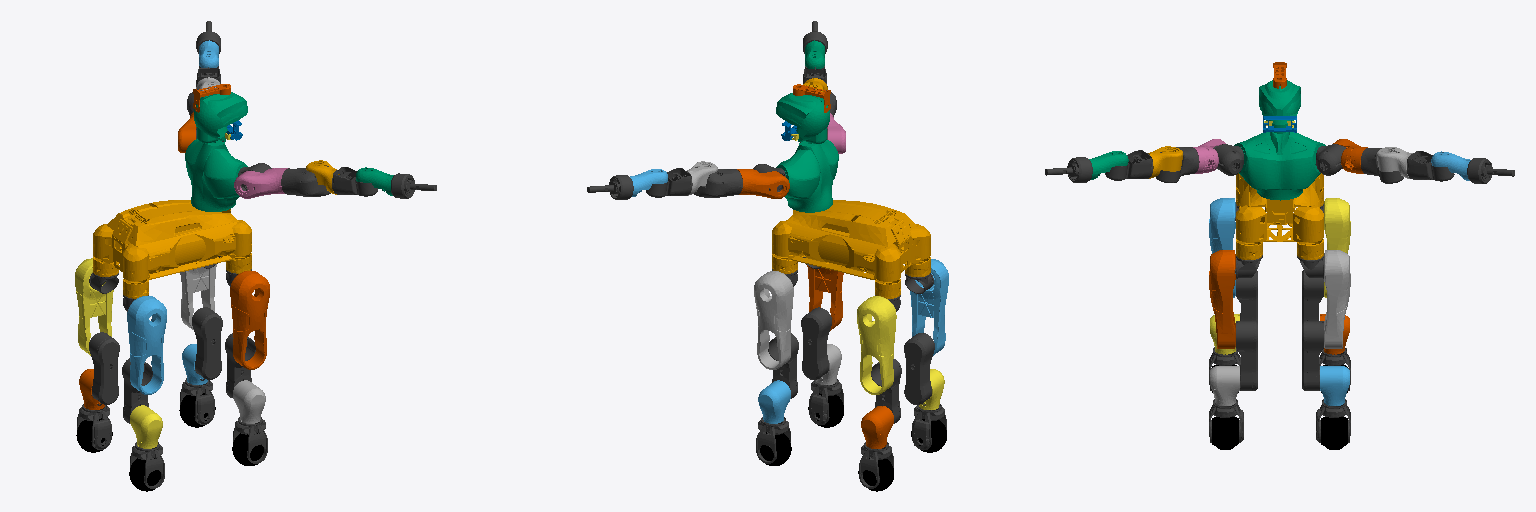
--- What the picture shows (computed from the rendered views, not written in the file) ---
The picture shows the robot from 3 angles, left to right: view 1: azimuth 30°, elevation 25°; view 2: azimuth 150°, elevation 25°; view 3: azimuth 270°, elevation 25°; orthographic projection.
Robot: centauro — 54 links, 53 joints (39 revolute, 5 continuous, 9 fixed); root link pelvis; default pose: all joints at 0 but 2 set to mid-range because 0 is outside their limits (j_arm1_2 = -1.74, j_arm2_2 = 1.74).
Links seen in each view (by area): view 1: pelvis, torso_2, hip2_2, hip2_4, hip2_3, knee_1, knee_3, hip2_1, arm2_2, ankle1_2, ankle1_4, arm2_3 (+13 smaller); view 2: pelvis, torso_2, hip2_1, hip2_3, hip2_4, knee_2, knee_4, hip2_2, arm1_2, ankle1_3, ankle1_1, arm1_3 (+13 smaller); view 3: torso_2, pelvis, hip2_1, hip2_2, knee_2, knee_1, hip2_4, hip2_3, ankle1_2, ankle1_1, arm1_5, arm2_5 (+16 smaller).
Boxes of the visible links, x1,y1,x2,y2 form: pelvis: [93, 200, 251, 298]; torso_2: [185, 92, 247, 211]; hip2_2: [230, 271, 269, 369]; hip2_4: [127, 296, 166, 394]; hip2_3: [75, 258, 113, 355]; knee_1: [192, 307, 222, 379]; knee_3: [89, 332, 119, 404]; hip2_1: [180, 264, 216, 329]; arm2_2: [234, 168, 287, 198]; ankle1_2: [233, 380, 265, 423]; ankle1_4: [130, 405, 162, 448]; arm2_3: [281, 166, 330, 196]; pelvis: [772, 200, 930, 298]; torso_2: [776, 93, 838, 212]; hip2_1: [754, 271, 793, 369]; hip2_3: [857, 296, 896, 394]; hip2_4: [910, 259, 948, 355]; knee_2: [801, 307, 831, 379]; knee_4: [904, 333, 934, 404]; hip2_2: [807, 265, 843, 330]; arm1_2: [737, 169, 789, 198]; ankle1_3: [861, 406, 893, 448]; ankle1_1: [758, 380, 790, 423]; arm1_3: [694, 167, 742, 197]; torso_2: [1234, 80, 1325, 200]; pelvis: [1236, 173, 1323, 259]; hip2_1: [1324, 250, 1350, 348]; hip2_2: [1209, 250, 1235, 348]; knee_2: [1236, 321, 1257, 390]; knee_1: [1302, 321, 1323, 390]; hip2_4: [1209, 198, 1235, 297]; hip2_3: [1324, 198, 1350, 297]; ankle1_2: [1210, 366, 1239, 405]; ankle1_1: [1320, 366, 1349, 405]; arm1_5: [1407, 151, 1454, 181]; arm2_5: [1105, 150, 1152, 180].
Size in the robot's own frame: 1.07 by 1.92 by 1.68 metres.
Meshes: 19 distinct files referenced, 45 mesh visuals loaded (19 binary STL).

The robot description file, URDF, robot "centauro":
<?xml version="1.0" ?>
<!-- =================================================================================== -->
<!-- |    This document was autogenerated by xacro from centauro.urdf.xacro            | -->
<!-- |    EDITING THIS FILE BY HAND IS NOT RECOMMENDED                                 | -->
<!-- =================================================================================== -->
<robot name="centauro" xmlns:xacro="http://www.ros.org/wiki/xacro">
  <!-- /constants -->
  <!-- Here all arguments from launch file are evaluated to the final xacro poropeties.
     Also all the parameter dependencies are resolved-->
  <!-- Here all arguments from launch file are evaluated to the final xacro poropeties.
     Also all the parameter dependencies are resolved-->
  <!-- Here all arguments from launch file are evaluated to the final xacro poropeties.
     Also all the parameter dependencies are resolved-->
  <!-- Here all arguments from launch file are evaluated to the final xacro poropeties.
     Also all the parameter dependencies are resolved-->
  <gazebo reference="j_ft_1">
    <sensor name="left_arm_ft" type="force_torque">
      <force_torque>
        <frame>parent</frame>
        <measure_direction>child_to_parent</measure_direction>
      </force_torque>
      <always_on>true</always_on>
      <visualize>true</visualize>
      <update_rate>1000</update_rate>
      <pose>0 0 0 0 0 0</pose>
    </sensor>
  </gazebo>
  <gazebo reference="j_ft_2">
    <sensor name="right_arm_ft" type="force_torque">
      <force_torque>
        <frame>parent</frame>
        <measure_direction>child_to_parent</measure_direction>
      </force_torque>
      <always_on>true</always_on>
      <visualize>true</visualize>
      <update_rate>1000</update_rate>
      <pose>0 0 0 0 0 0</pose>
    </sensor>
  </gazebo>
  <gazebo reference="j_wheel_1">
    <sensor name="fl_foot_ft" type="force_torque">
      <force_torque>
        <frame>parent</frame>
        <measure_direction>child_to_parent</measure_direction>
      </force_torque>
      <always_on>true</always_on>
      <visualize>true</visualize>
      <update_rate>1000</update_rate>
      <pose>0 0 0 0 0 0</pose>
    </sensor>
  </gazebo>
  <gazebo reference="j_wheel_2">
    <sensor name="fr_foot_ft" type="force_torque">
      <force_torque>
        <frame>parent</frame>
        <measure_direction>child_to_parent</measure_direction>
      </force_torque>
      <always_on>true</always_on>
      <visualize>true</visualize>
      <update_rate>1000</update_rate>
      <pose>0 0 0 0 0 0</pose>
    </sensor>
  </gazebo>
  <gazebo reference="j_wheel_4">
    <sensor name="hr_foot_ft" type="force_torque">
      <force_torque>
        <frame>parent</frame>
        <measure_direction>child_to_parent</measure_direction>
      </force_torque>
      <always_on>true</always_on>
      <visualize>true</visualize>
      <update_rate>1000</update_rate>
      <pose>0 0 0 0 0 0</pose>
    </sensor>
  </gazebo>
  <gazebo reference="j_wheel_3">
    <sensor name="hl_foot_ft" type="force_torque">
      <force_torque>
        <frame>parent</frame>
        <measure_direction>child_to_parent</measure_direction>
      </force_torque>
      <always_on>true</always_on>
      <visualize>true</visualize>
      <update_rate>1000</update_rate>
      <pose>0 0 0 0 0 0</pose>
    </sensor>
  </gazebo>
  <gazebo reference="wheel_1">
    <sensor name="wheel_1_contact_sensor_1" type="contact">
      <always_on>true</always_on>
      <update_rate>1000.0</update_rate>
      <contact>
        <collision>wheel_1_collision_1</collision>
      </contact>
      <plugin filename="libgazebo_ros_bumper.so" name="wheel_1_bumper">
        <bumperTopicName>centauro/contacts_wheel_1</bumperTopicName>
        <frameName>wheel_1</frameName>
      </plugin>
    </sensor>
  </gazebo>
  <gazebo reference="wheel_2">
    <sensor name="wheel_2_contact_sensor_1" type="contact">
      <always_on>true</always_on>
      <update_rate>1000.0</update_rate>
      <contact>
        <collision>wheel_2_collision_1</collision>
      </contact>
      <plugin filename="libgazebo_ros_bumper.so" name="wheel_2_bumper">
        <bumperTopicName>centauro/contacts_wheel_2</bumperTopicName>
        <frameName>wheel_2</frameName>
      </plugin>
    </sensor>
  </gazebo>
  <gazebo reference="wheel_3">
    <sensor name="wheel_3_contact_sensor_1" type="contact">
      <always_on>true</always_on>
      <update_rate>1000.0</update_rate>
      <contact>
        <collision>wheel_3_collision_1</collision>
      </contact>
      <plugin filename="libgazebo_ros_bumper.so" name="wheel_3_bumper">
        <bumperTopicName>centauro/contacts_wheel_3</bumperTopicName>
        <frameName>wheel_3</frameName>
      </plugin>
    </sensor>
  </gazebo>
  <gazebo reference="wheel_4">
    <sensor name="wheel_4_contact_sensor_1" type="contact">
      <always_on>true</always_on>
      <update_rate>1000.0</update_rate>
      <contact>
        <collision>wheel_4_collision_1</collision>
      </contact>
      <plugin filename="libgazebo_ros_bumper.so" name="wheel_4_bumper">
        <bumperTopicName>centauro/contacts_wheel_4</bumperTopicName>
        <frameName>wheel_4</frameName>
      </plugin>
    </sensor>
  </gazebo>
  <!-- Here all arguments from launch file are evaluated to the final xacro poropeties.
     Also all the parameter dependencies are resolved-->
  <gazebo reference="imu_link">
    <sensor name="imu_link" type="imu">
      <always_on>1</always_on>
      <update_rate>500</update_rate>
      <visualize>true</visualize>
      <topic>__default_topic__</topic>
      <imu>
        <!--
                <noise>
                <type>gaussian</type>
                <rate>
                    <mean>0.0</mean>
                    <stddev>2e-4</stddev>
                    <bias_mean>0.0000075</bias_mean>
                    <bias_stddev>0.0000008</bias_stddev>
                </rate>
                <accel>
                    <mean>0.0</mean>
                    <stddev>1.7e-2</stddev>
                    <bias_mean>0.1</bias_mean>
                    <bias_stddev>0.001</bias_stddev>
                </accel>
                </noise>
                -->
      </imu>
    </sensor>
  </gazebo>
  <gazebo>
    <plugin filename="libGazeboXBotPlugin.so" name="gazebo_xbot_plugin">
      <path_to_config_file>configs/ADVR_shared/centauro/configs/config_centauro.yaml</path_to_config_file>
      <!--                <path_to_config_file>configs/ADVR_shared/centauro/configs/config_centauro.yaml</path_to_config_file> -->
    </plugin>
  </gazebo>
  <!-- /CONTROLLER -->
  <!-- VISUALiZATION AND FRICTION -->
  <gazebo reference="base_link">
    <material>Gazebo/Red</material>
  </gazebo>
  <gazebo reference="pelvis">
    <material>Gazebo/OrangeTransparent</material>
    <mu1>0</mu1>
    <mu2>0</mu2>
  </gazebo>
  <gazebo reference="torso_2">
    <material>Gazebo/OrangeTransparent</material>
    <mu1>0</mu1>
    <mu2>0</mu2>
  </gazebo>
  <gazebo reference="hip1_1">
    <material>Gazebo/Lane_1</material>
    <mu1>0</mu1>
    <mu2>0</mu2>
  </gazebo>
  <gazebo reference="hip1_2">
    <material>Gazebo/Lane_1 </material>
    <mu1>0</mu1>
    <mu2>0</mu2>
  </gazebo>
  <gazebo reference="hip1_3">
    <material>Gazebo/Lane_1</material>
    <mu1>0</mu1>
    <mu2>0</mu2>
  </gazebo>
  <gazebo reference="hip1_4">
    <material>Gazebo/Lane_1</material>
    <mu1>0</mu1>
    <mu2>0</mu2>
  </gazebo>
  <gazebo reference="hip2_1">
    <material>Gazebo/OrangeTransparent </material>
    <mu1>0</mu1>
    <mu2>0</mu2>
  </gazebo>
  <gazebo reference="hip2_2">
    <material>Gazebo/OrangeTransparent</material>
    <mu1>0</mu1>
    <mu2>0</mu2>
  </gazebo>
  <gazebo reference="hip2_3">
    <material>Gazebo/OrangeTransparent </material>
    <mu1>0</mu1>
    <mu2>0</mu2>
  </gazebo>
  <gazebo reference="hip2_4">
    <material>Gazebo/OrangeTransparent </material>
    <mu1>0</mu1>
    <mu2>0</mu2>
  </gazebo>
  <gazebo reference="knee_1">
    <material>Gazebo/Lane_1 </material>
    <mu1>0</mu1>
    <mu2>0</mu2>
  </gazebo>
  <gazebo reference="knee_2">
    <material>Gazebo/Lane_1 </material>
    <mu1>0</mu1>
    <mu2>0</mu2>
  </gazebo>
  <gazebo reference="knee_3">
    <material>Gazebo/Lane_1 </material>
    <mu1>0</mu1>
    <mu2>0</mu2>
  </gazebo>
  <gazebo reference="knee_4">
    <material>Gazebo/Lane_1 </material>
    <mu1>0</mu1>
    <mu2>0</mu2>
  </gazebo>
  <gazebo reference="ankle1_1">
    <material>Gazebo/OrangeTransparent</material>
    <mu1>0</mu1>
    <mu2>0</mu2>
  </gazebo>
  <gazebo reference="ankle1_2">
    <material>Gazebo/OrangeTransparent  </material>
    <mu1>0</mu1>
    <mu2>0</mu2>
  </gazebo>
  <gazebo reference="ankle1_3">
    <material>Gazebo/OrangeTransparent </material>
    <mu1>0</mu1>
    <mu2>0</mu2>
  </gazebo>
  <gazebo reference="ankle1_4">
    <material>Gazebo/OrangeTransparent  </material>
    <mu1>0</mu1>
    <mu2>0</mu2>
  </gazebo>
  <gazebo reference="ankle2_1">
    <material> Gazebo/Lane_1 </material>
    <mu1>0</mu1>
    <mu2>0</mu2>
  </gazebo>
  <gazebo reference="ankle2_2">
    <material>Gazebo/Lane_1 </material>
    <mu1>0</mu1>
    <mu2>0</mu2>
  </gazebo>
  <gazebo reference="ankle2_3">
    <material>Gazebo/Lane_1</material>
    <mu1>0</mu1>
    <mu2>0</mu2>
  </gazebo>
  <gazebo reference="ankle2_4">
    <material>Gazebo/Lane_1</material>
    <mu1>0</mu1>
    <mu2>0</mu2>
  </gazebo>
  <gazebo reference="wheel_1">
    <material>Gazebo/Residential </material>
    <collision>
      <surface>
        <friction>
          <!--                                        <torsional>
                                                <coefficient> 0.5 </coefficient>
                                                <use_patch_radius>true</use_patch_radius>
                                                <patch_radius>0.2</patch_radius>
                                        </torsional>-->
          <ode>
            <mu>0.5</mu>
            <mu2>0.5</mu2>
          </ode>
          <bullet>
            <friction>0.5</friction>
            <friction2>0.5</friction2>
          </bullet>
        </friction>
        <contact>
          <ode>
            <!--<soft_cfm>0.0001</soft_cfm>
                                        <soft_erp>0.25</soft_erp> -->
            <kp>2100000</kp>
            <kd>1</kd>
            <max_vel>100</max_vel>
          </ode>
          <bullet>
            <soft_cfm>0.007</soft_cfm>
            <soft_erp>0.25</soft_erp>
            <kp>1000000</kp>
            <kd>5</kd>
            <split_impulse>0.01</split_impulse>
          </bullet>
        </contact>
      </surface>
    </collision>
  </gazebo>
  <gazebo reference="wheel_2">
    <material>Gazebo/Residential</material>
    <collision>
      <surface>
        <friction>
          <!--                                        <torsional>
                                                <coefficient> 0.5 </coefficient>
                                                <use_patch_radius>true</use_patch_radius>
                                                <patch_radius>0.2</patch_radius>
                                        </torsional>-->
          <ode>
            <mu>0.5</mu>
            <mu2>0.5</mu2>
          </ode>
          <bullet>
            <friction>0.5</friction>
            <friction2>0.5</friction2>
          </bullet>
        </friction>
        <contact>
          <ode>
            <!--<soft_cfm>0.0001</soft_cfm>
                                        <soft_erp>0.25</soft_erp> -->
            <kp>2100000</kp>
            <kd>1</kd>
            <max_vel>100</max_vel>
          </ode>
          <bullet>
            <soft_cfm>0.007</soft_cfm>
            <soft_erp>0.25</soft_erp>
            <kp>1000000</kp>
            <kd>5</kd>
            <split_impulse>0.01</split_impulse>
          </bullet>
        </contact>
      </surface>
    </collision>
  </gazebo>
  <gazebo reference="wheel_3">
    <material>Gazebo/Residential </material>
    <collision>
      <surface>
        <friction>
          <!--                                        <torsional>
                                                <coefficient> 0.5 </coefficient>
                                                <use_patch_radius>true</use_patch_radius>
                                                <patch_radius>0.2</patch_radius>
                                        </torsional>-->
          <ode>
            <mu>0.5</mu>
            <mu2>0.5</mu2>
          </ode>
          <bullet>
            <friction>0.5</friction>
            <friction2>0.5</friction2>
          </bullet>
        </friction>
        <contact>
          <ode>
            <!--<soft_cfm>0.0001</soft_cfm>
                                        <soft_erp>0.25</soft_erp> -->
            <kp>2100000</kp>
            <kd>1</kd>
            <max_vel>100</max_vel>
          </ode>
          <bullet>
            <soft_cfm>0.007</soft_cfm>
            <soft_erp>0.25</soft_erp>
            <kp>1000000</kp>
            <kd>5</kd>
            <split_impulse>0.01</split_impulse>
          </bullet>
        </contact>
      </surface>
    </collision>
  </gazebo>
  <gazebo reference="wheel_4">
    <material>Gazebo/Residential</material>
    <collision>
      <surface>
        <friction>
          <!--                                        <torsional>
                                                <coefficient> 0.5 </coefficient>
                                                <use_patch_radius>true</use_patch_radius>
                                                <patch_radius>0.2</patch_radius>
                                        </torsional>-->
          <ode>
            <mu>0.5</mu>
            <mu2>0.5</mu2>
          </ode>
          <bullet>
            <friction>0.5</friction>
            <friction2>0.5</friction2>
          </bullet>
        </friction>
        <contact>
          <ode>
            <!--<soft_cfm>0.0001</soft_cfm>
                                        <soft_erp>0.25</soft_erp> -->
            <kp>2100000</kp>
            <kd>1</kd>
            <max_vel>100</max_vel>
          </ode>
          <bullet>
            <soft_cfm>0.007</soft_cfm>
            <soft_erp>0.25</soft_erp>
            <kp>1000000</kp>
            <kd>5</kd>
            <split_impulse>0.01</split_impulse>
          </bullet>
        </contact>
      </surface>
    </collision>
  </gazebo>
  <gazebo reference="arm1_1">
    <material>Gazebo/Lane_1 </material>
    <mu1>0</mu1>
    <mu2>0</mu2>
  </gazebo>
  <gazebo reference="arm2_1">
    <material>Gazebo/Lane_1 </material>
    <mu1>0</mu1>
    <mu2>0</mu2>
  </gazebo>
  <gazebo reference="arm1_2">
    <material>Gazebo/OrangeTransparent </material>
    <mu1>0</mu1>
    <mu2>0</mu2>
  </gazebo>
  <gazebo reference="arm2_2">
    <material>Gazebo/OrangeTransparent</material>
    <mu1>0</mu1>
    <mu2>0</mu2>
  </gazebo>
  <gazebo reference="arm1_3">
    <material>Gazebo/Lane_1 </material>
    <mu1>0</mu1>
    <mu2>0</mu2>
  </gazebo>
  <gazebo reference="arm2_3">
    <material>Gazebo/Lane_1 </material>
    <mu1>0</mu1>
    <mu2>0</mu2>
  </gazebo>
  <gazebo reference="arm1_4">
    <material>Gazebo/OrangeTransparent </material>
    <mu1>0</mu1>
    <mu2>0</mu2>
  </gazebo>
  <gazebo reference="arm2_4">
    <material>Gazebo/OrangeTransparent </material>
    <mu1>0</mu1>
    <mu2>0</mu2>
  </gazebo>
  <gazebo reference="arm1_5">
    <material>Gazebo/Lane_1 </material>
    <mu1>0</mu1>
    <mu2>0</mu2>
  </gazebo>
  <gazebo reference="arm2_5">
    <material>Gazebo/Lane_1 </material>
    <mu1>0</mu1>
    <mu2>0</mu2>
  </gazebo>
  <gazebo reference="arm1_6">
    <material>Gazebo/OrangeTransparent </material>
    <mu1>0</mu1>
    <mu2>0</mu2>
  </gazebo>
  <gazebo reference="arm2_6">
    <material>Gazebo/OrangeTransparent </material>
    <mu1>0</mu1>
    <mu2>0</mu2>
  </gazebo>
  <gazebo reference="arm1_7">
    <material>Gazebo/Lane_1 </material>
    <mu1>0</mu1>
    <mu2>0</mu2>
  </gazebo>
  <gazebo reference="arm2_7">
    <material>Gazebo/Lane_1 </material>
    <mu1>0</mu1>
    <mu2>0</mu2>
  </gazebo>
  <gazebo reference="arm1_8">
    <material>Gazebo/OrangeTransparent </material>
    <mu1>0</mu1>
    <mu2>0</mu2>
  </gazebo>
  <gazebo reference="arm2_8">
    <material>Gazebo/OrangeTransparent </material>
    <mu1>0</mu1>
    <mu2>0</mu2>
  </gazebo>
  <material name="grey">
    <color rgba="0.5 0.5 0.5 1"/>
  </material>
  <material name="dark_grey">
    <color rgba="0.3 0.3 0.3 1"/>
  </material>
  <material name="blue">
    <color rgba="0.0 0.2 0.3 1"/>
  </material>
  <material name="red">
    <color rgba="0.5 0.1 0.2 1"/>
  </material>
  <material name="black">
    <color rgba="0.0 0.0 0.0 1"/>
  </material>
  <!-- Here all arguments from launch file are evaluated to the final xacro poropeties.
     Also all the parameter dependencies are resolved-->
  <!-- load proper collision model -->
  <!-- load proper collision model -->
  <!-- load proper collision model -->
  <!-- load proper collision model -->
  <!-- load proper collision model -->
  <!-- Here all arguments from launch file are evaluated to the final xacro poropeties.
     Also all the parameter dependencies are resolved-->
  <!-- load proper collision model -->
  <!-- load proper collision model -->
  <!-- load proper collision model -->
  <!-- load proper collision model -->
  <!-- load proper collision model -->
  <!-- /macro legs -->
  <!-- /macro arms -->
  <!-- /other files -->
  <!-- reference -->
  <!-- <link name="base_link"/>

<joint name="base_joint" type="fixed">
   <origin xyz="0 0 0"/>
   <parent link="base_link"/>
   <child link="world"/>
</joint>
-->
  <!--link name="world"/-->
  <link name="pelvis">
    <inertial>
      <origin xyz="-0.013541342 -0.0029098264 0.01400721"/>
      <mass value="24.190945"/>
      <inertia ixx="0.20021119" ixy="-0.0038421093" ixz="-0.033298849" iyy="0.51136214" iyz="0.004469847" izz="0.54401411"/>
    </inertial>
    <visual>
      <origin rpy="0.0 0.0 0.0" xyz="0.0 0 0.0"/>
      <geometry>
        <mesh filename="meshes/simplified/pelvis.stl" scale="0.001 0.001 0.001"/>
      </geometry>
    </visual>
    <collision>
      <origin rpy="0.0 0.0 0.0" xyz="0.0 0 0.0"/>
      <geometry>
        <mesh filename="meshes/convex_hull/pelvis.stl" scale="0.001 0.001 0.001"/>
      </geometry>
    </collision>
  </link>
  <link name="imu_link">
    <inertial>
      <mass value="0.0"/>
      <inertia ixx="0.0" ixy="0.0" ixz="0.0" iyy="0.0" iyz="0.0" izz="0.0"/>
    </inertial>
  </link>
  <joint name="imu_joint" type="fixed">
    <parent link="pelvis"/>
    <origin rpy="0.0 0.0 0.0" xyz="0.0 0.0 0.0"/>
    <child link="imu_link"/>
  </joint>
  <!--joint name="reference" type="floating">
    <origin xyz="0.0 0.0 0.93445"/>
    <parent link="world"/>
    <child link="pelvis"/>
  </joint-->
  <!-- /reference  -->
  <!-- torso links -->
  <link name="torso_2">
    <inertial>
      <origin xyz="0.0064454169 0.0021390093 0.14302095"/>
      <mass value="6.1886404"/>
      <inertia ixx="0.063643392" ixy="8.939e-05" ixz="-0.00086873" iyy="0.02680235" iyz="-4.657e-05" izz="0.04743015"/>
    </inertial>
    <visual>
      <origin rpy="0.0 0.0 0.0" xyz="0.0 0 0.0"/>
      <geometry>
        <mesh filename="meshes/simplified/link1.stl" scale="0.001 0.001 0.001"/>
      </geometry>
    </visual>
    <collision>
      <origin rpy="0.0 0.0 0.0" xyz="0.0 0 0.0"/>
      <geometry>
        <mesh filename="meshes/convex_hull/link1.stl" scale="0.001 0.001 0.001"/>
      </geometry>
    </collision>
  </link>
  <!-- /torso links -->
  <!-- torso joints -->
  <joint name="torso_yaw" type="revolute">
    <parent link="pelvis"/>
    <origin xyz="0.2 0.0 0.256"/>
    <child link="torso_2"/>
    <axis xyz="0 0 1"/>
    <limit effort="147" lower="-2.618" upper="2.618" velocity="5.7"/>
    <!-- TODO -->
  </joint>
  <!-- /torso joints -->
  <transmission name="t_torso_yaw">
    <type> transmission_interface/SimpleTransmission</type>
    <joint name="torso_yaw">
      <hardwareInterface>hardware_interface/EffortJointInterface</hardwareInterface>
    </joint>
    <actuator name="motor_torso_yaw">
      <hardwareInterface>hardware_interface/EffortJointInterface</hardwareInterface>
      <machanicalReduction>1</machanicalReduction>
    </actuator>
    <robotNamespace>/centauro</robotNamespace>
  </transmission>
  <!-- /torso actuators -->
  <!-- head links -->
  <link name="neck_1">
    <inertial>
      <origin xyz="0.040479674 0.021377573 -0.014595112"/>
      <mass value="0.33878686"/>
      <inertia ixx="0.0003718568" ixy="-9.42983e-05" ixz="-2.80644e-05" iyy="0.0001886879" iyz="-1.54534e-05" izz="0.0005023443"/>
    </inertial>
    <visual>
      <origin rpy="0.0 0.0 0.0" xyz="0.0 0 0.0"/>
      <geometry>
        <mesh filename="meshes/simplified/neck_yaw.stl" scale="0.001 0.001 0.001"/>
      </geometry>
    </visual>
    <collision>
      <origin rpy="0.0 0.0 0.0" xyz="0.0 0 0.0"/>
      <geometry>
        <mesh filename="meshes/convex_hull/neck_yaw.stl" scale="0.001 0.001 0.001"/>
      </geometry>
    </collision>
  </link>
  <link name="neck_2">
    <inertial>
      <origin xyz="0.048466918 -0.059852318 -0.0085314894"/>
      <mass value="0.78526942"/>
      <inertia ixx="0.0004682345" ixy="-1.05438e-05" ixz="7.24398e-05" iyy="0.0002635246" iyz="1.6904e-06" izz="0.0003763351"/>
    </inertial>
    <visual>
      <origin rpy="0.0 0.0 0.0" xyz="0.0 0 0.0"/>
      <geometry>
        <mesh filename="meshes/simplified/neck_pitch.stl" scale="0.001 0.001 0.001"/>
      </geometry>
    </visual>
    <collision>
      <origin rpy="0.0 0.0 0.0" xyz="0.0 0 0.0"/>
      <geometry>
        <mesh filename="meshes/convex_hull/neck_pitch.stl" scale="0.001 0.001 0.001"/>
      </geometry>
    </collision>
  </link>
  <link name="neck_3">
    <inertial>
      <origin xyz="0.048466918 -0.059852318 -0.0085314894"/>
      <mass value="0.78526942"/>
      <inertia ixx="0.0004682345" ixy="-1.05438e-05" ixz="7.24398e-05" iyy="0.0002635246" iyz="1.6904e-06" izz="0.0003763351"/>
    </inertial>
    <visual>
      <origin rpy="0.0 0.0 0.0" xyz="0.0 0 0.0"/>
      <geometry>
        <mesh filename="meshes/simplified/velodyne.stl" scale="0.001 0.001 0.001"/>
      </geometry>
    </visual>
    <collision>
      <origin rpy="0.0 0.0 0.0" xyz="0.0 0 0.0"/>
      <geometry>
        <mesh filename="meshes/convex_hull/velodyne.stl" scale="0.001 0.001 0.001"/>
      </geometry>
    </collision>
  </link>
  <!-- /head links -->
  <!-- sensors links -->
  <link name="camera_central">
    <inertial>
      <origin xyz="0.0 0.0 0.0"/>
      <mass value="0.1"/>
      <inertia ixx="1e-06" ixy="0.0" ixz="0.0" iyy="1e-06" iyz="0.0" izz="1e-06"/>
    </inertial>
  </link>
  <link name="camera_left">
    <inertial>
      <origin xyz="0.0 0.0 0.0"/>
      <mass value="0.1"/>
      <inertia ixx="1e-06" ixy="0.0" ixz="0.0" iyy="1e-06" iyz="0.0" izz="1e-06"/>
    </inertial>
  </link>
  <link name="camera_right">
    <inertial>
      <origin xyz="0.0 0.0 0.0"/>
      <mass value="0.1"/>
      <inertia ixx="1e-06" ixy="0.0" ixz="0.0" iyy="1e-06" iyz="0.0" izz="1e-06"/>
    </inertial>
  </link>
  <link name="kinect">
    <inertial>
      <origin xyz="0.0 0.0 0.0"/>
      <mass value="0.1"/>
      <inertia ixx="1e-06" ixy="0.0" ixz="0.0" iyy="1e-06" iyz="0.0" izz="1e-06"/>
    </inertial>
  </link>
  <link name="kinect2_rgb_optical_frame">
    <inertial>
      <origin rpy="0 0 0" xyz="0 0 0"/>
      <mass value="0"/>
      <inertia ixx="0.0" ixy="0.0" ixz="0.0" iyy="0.0" iyz="0.0" izz="0.0"/>
    </inertial>
  </link> <!-- in pybullet, the inertia need to be specified even for dummy links, otherwise it will put an identity inertia and a mass of 1 by default -->
  <link name="velodyne_mount">
    <inertial>
      <origin xyz="0.0 0.0 0.0"/>
      <mass value="0.1"/>
      <inertia ixx="1e-06" ixy="0.0" ixz="0.0" iyy="1e-06" iyz="0.0" izz="1e-06"/>
    </inertial>
  </link>
  <!-- /sensors links -->
  <!-- head joints -->
  <joint name="neck_yaw" type="revolute">
    <parent link="torso_2"/>
    <origin xyz="0.0 0.0 0.2795"/>
    <child link="neck_1"/>
    <axis xyz="0 0 1"/>
    <limit effort="35" lower="-0.78539816" upper="0.78539816" velocity="5.7"/>
    <!-- TODO -->
  </joint>
  <joint name="neck_pitch" type="revolute">
    <parent link="neck_1"/>
    <origin xyz="0.054 0.0596 -0.0124975"/>
    <child link="neck_2"/>
    <axis xyz="0 1 0"/>
    <limit effort="35" lower="-0.34906585" upper="0.78539816" velocity="5.7"/>
    <!-- TODO -->
  </joint>
  <joint name="neck_velodyne" type="continuous">
    <parent link="torso_2"/>
    <origin xyz="0.055 0.0 0.473262"/>
    <child link="neck_3"/>
    <axis xyz="0 0 1"/>
    <limit effort="35" velocity="5.7"/>
    <!-- TODO -->
  </joint>
  <!-- /head joints -->
  <!-- sensors transformations  -->
  <joint name="j_camera_central" type="fixed">
    <parent link="torso_2"/>
    <origin rpy="0.0 0.349065586018 0.0" xyz="0.0559593 5e-12 0.390626"/>
    <child link="camera_central"/>
  </joint>
  <joint name="j_camera_left" type="fixed">
    <parent link="torso_2"/>
    <origin rpy="0.0 0.349065586018 1.2217302006" xyz="0.0191392 0.0525845 0.390626"/>
    <child link="camera_left"/>
  </joint>
  <joint name="j_camera_right" type="fixed">
    <parent link="torso_2"/>
    <origin rpy="0.0 0.349065586018 -1.2217302006" xyz="0.0191392 -0.0525845 0.390626"/>
    <child link="camera_right"/>
  </joint>
  <joint name="j_kinect" type="fixed">
    <parent link="neck_2"/>
    <origin rpy="0.0 0.0 0.0" xyz="0.03 -0.0596 0.045855"/>
    <child link="kinect"/>
  </joint>
  <joint name="j_kinect_optical_frame" type="fixed">
    <parent link="kinect"/>
    <child link="kinect2_rgb_optical_frame"/>
    <origin rpy=" -1.5707963268 0 -1.5707963268" xyz="0.050 -0.110 -0.035"/>
  </joint>
  <joint name="j_velodyne" type="fixed">
    <parent link="neck_3"/>
    <origin rpy="0.0 0.0 -3.14159265359" xyz="-0.138 0.0 -0.033"/>
    <child link="velodyne_mount"/>
  </joint>
  <!-- /sensors transformations -->
  <transmission name="t_neck_yaw">
    <type> transmission_interface/SimpleTransmission</type>
    <joint name="neck_yaw">
      <hardwareInterface>hardware_interface/EffortJointInterface</hardwareInterface>
    </joint>
    <actuator name="motor_neck_yaw">
      <hardwareInterface>hardware_interface/EffortJointInterface</hardwareInterface>
      <machanicalReduction>1</machanicalReduction>
    </actuator>
    <robotNamespace>/centauro</robotNamespace>
  </transmission>
  <transmission name="t_neck_pitch">
    <type> transmission_interface/SimpleTransmission</type>
    <joint name="neck_pitch">
      <hardwareInterface>hardware_interface/EffortJointInterface</hardwareInterface>
    </joint>
    <actuator name="motor_neck_pitch">
      <hardwareInterface>hardware_interface/EffortJointInterface</hardwareInterface>
      <machanicalReduction>1</machanicalReduction>
    </actuator>
    <robotNamespace>/centauro</robotNamespace>
  </transmission>
  <transmission name="t_neck_velodyne">
    <type> transmission_interface/SimpleTransmission</type>
    <joint name="neck_velodyne">
      <hardwareInterface>hardware_interface/EffortJointInterface</hardwareInterface>
    </joint>
    <actuator name="motor_neck_velodyne">
      <hardwareInterface>hardware_interface/EffortJointInterface</hardwareInterface>
      <machanicalReduction>1</machanicalReduction>
    </actuator>
    <robotNamespace>/centauro</robotNamespace>
  </transmission>
  <!-- /torso actuators -->
  <!-- /torso -->
  <!-- LINKS -->
  <!-- shoulder yaw-roll-->
  <link name="arm1_1">
    <inertial>
      <origin xyz="-0.0031005886 0.040324584 0.007451937"/>
      <mass value="1.5583338"/>
      <inertia ixx="0.0032318636" ixy="4.24587e-05" ixz="4.91626e-05" iyy="0.00275718" iyz="-0.0002387056" izz="0.004275047"/>
    </inertial>
    <visual>
      <origin rpy="0.0 0.0 0.0" xyz="0.0 0.0 0.0"/>
      <geometry>
        <mesh filename="meshes/simplified/link2.stl" scale="0.001 -0.001 0.001"/>
      </geometry>
      <material name="dark_grey"/>
    </visual>
    <collision>
      <origin rpy="0.0 0.0 0.0" xyz="0.0 0.0 0.0"/>
      <geometry>
        <mesh filename="meshes/convex_hull/link2.stl" scale="0.001 -0.001 0.001"/>
      </geometry>
    </collision>
  </link>
  <!-- shoulder yaw-roll-->
  <!-- shoulder roll-pitch-->
  <link name="arm1_2">
    <inertial>
      <origin xyz="0.05105435 0.00011109 -0.07643596"/>
      <mass value="1.515061"/>
      <inertia ixx="0.01029558" ixy="2.846e-05" ixz="0.0036567" iyy="0.01178018" iyz="2.088e-05" izz="0.00386123"/>
    </inertial>
    <visual>
      <origin rpy="0.0 0.0 0.0" xyz="0.0 0.0 0.0"/>
      <geometry>
        <mesh filename="meshes/simplified/link3.stl" scale="0.001 -0.001 0.001"/>
      </geometry>
    </visual>
    <collision>
      <origin rpy="0.0 0.0 0.0" xyz="0.0 0.0 0.0"/>
      <geometry>
        <mesh filename="meshes/convex_hull/link3.stl" scale="0.001 -0.001 0.001"/>
      </geometry>
    </collision>
  </link>
  <!-- shoulder roll-pitch-->
  <!-- shoulder-elbow -->
  <link name="arm1_3">
    <inertial>
      <origin xyz="0.01207624 0.00322013 -0.03427312"/>
      <mass value="1.5088101"/>
      <inertia ixx="0.00469819" ixy="-0.00026547" ixz="0.00077706" iyy="0.00501755" iyz="0.00029679" izz="0.00310954"/>
    </inertial>
    <visual>
      <origin rpy="0.0 0.0 0.0" xyz="0.0 0.0 0.0"/>
      <geometry>
        <mesh filename="meshes/simplified/link4.stl" scale="0.001 -0.001 0.001"/>
      </geometry>
      <material name="dark_grey"/>
    </visual>
    <collision>
      <origin rpy="0.0 0.0 0.0" xyz="0.0 0.0 0.0"/>
      <geometry>
        <mesh filename="meshes/convex_hull/link4.stl" scale="0.001 -0.001 0.001"/>
      </geometry>
    </collision>
  </link>
  <!-- /shoulder-elbow -->
  <!-- elbow yaw-pitch -->
  <link name="arm1_4">
    <inertial>
      <origin xyz="0.010147552 -0.029928537 -0.032528288"/>
      <mass value="0.96297329"/>
      <inertia ixx="0.0026493567" ixy="5.1632e-06" ixz="0.0001292309" iyy="0.0023470955" iyz="-0.0007895755" izz="0.0012213063"/>
    </inertial>
    <visual>
      <origin rpy="0.0 0.0 0.0" xyz="0.0 0.0 0.0"/>
      <geometry>
        <mesh filename="meshes/simplified/link5.stl" scale="0.001 -0.001 0.001"/>
      </geometry>
    </visual>
    <collision>
      <origin rpy="0.0 0.0 0.0" xyz="0.0 0.0 0.0"/>
      <geometry>
        <mesh filename="meshes/convex_hull/link5.stl" scale="0.001 -0.001 0.001"/>
      </geometry>
    </collision>
  </link>
  <!-- /elbow yaw-pitch -->
  <!-- elbow-wrist -->
  <link name="arm1_5">
    <inertial>
      <origin xyz="-0.0001574443 0.0041320907 -0.10756614"/>
      <mass value="1.4703698"/>
      <inertia ixx="0.0064160453" ixy="1.96382e-05" ixz="2.49912e-05" iyy="0.0062016367" iyz="-0.0001987903" izz="0.0017091658"/>
    </inertial>
    <visual>
      <origin rpy="0.0 0.0 0.0" xyz="0.0 0.0 0.0"/>
      <geometry>
        <mesh filename="meshes/simplified/link6.stl" scale="0.001 -0.001 0.001"/>
      </geometry>
      <material name="dark_grey"/>
    </visual>
    <collision>
      <origin rpy="0.0 0.0 0.0" xyz="0.0 0.0 0.0"/>
      <geometry>
        <mesh filename="meshes/convex_hull/link6.stl" scale="0.001 -0.001 0.001"/>
      </geometry>
    </collision>
  </link>
  <!-- /elbow-wrist -->
  <!-- wrist yaw-pitch -->
  <link name="arm1_6">
    <inertial>
      <origin xyz="3.23645e-05 -0.035947237 -0.080878061"/>
      <mass value="0.94693868"/>
      <inertia ixx="0.0036896582" ixy="2.63667e-05" ixz="1.4005e-06" iyy="0.0034146283" iyz="-0.0008268103" izz="0.0010790183"/>
    </inertial>
    <visual>
      <origin rpy="0.0 0.0 0.0" xyz="0.0 0.0 0.0"/>
      <geometry>
        <mesh filename="meshes/simplified/link7.stl" scale="0.001 -0.001 0.001"/>
      </geometry>
    </visual>
    <collision>
      <origin rpy="0.0 0.0 0.0" xyz="0.0 0.0 0.0"/>
      <geometry>
        <mesh filename="meshes/convex_hull/link7.stl" scale="0.001 -0.001 0.001"/>
      </geometry>
    </collision>
  </link>
  <!-- /wrist yaw-pitch -->
  <link name="arm1_7">
    <inertial>
      <origin xyz="2.46596e-05 -0.0001467705 -0.0052993013"/>
      <mass value="0.55981036"/>
      <inertia ixx="0.0004360175" ixy="1.397e-07" ixz="-1.382e-07" iyy="0.0004299166" iyz="-1.4752e-06" izz="0.0004522224"/>
    </inertial>
    <visual>
      <origin rpy="0.0 0.0 0.0" xyz="0.0 0.0 0.0"/>
      <geometry>
        <mesh filename="meshes/simplified/link8.stl" scale="0.001 -0.001 0.001"/>
      </geometry>
      <material name="dark_grey"/>
    </visual>
    <collision>
      <origin rpy="0.0 0.0 0.0" xyz="0.0 0.0 0.0"/>
      <geometry>
        <mesh filename="meshes/convex_hull/link8.stl" scale="0.001 -0.001 0.001"/>
      </geometry>
    </collision>
  </link>
  <!-- /LINKS -->
  <!-- JOINTS -->
  <!-- shoulder yaw -->
  <joint name="j_arm1_1" type="revolute">
    <parent link="torso_2"/>
    <child link="arm1_1"/>
    <origin rpy="0.0 0.0 -0.523602668986" xyz="0.04576 0.169137 0.116626"/>
    <axis xyz="0 0.984807753012 0.173648177667"/>
    <limit effort="147" lower="-3.348" upper="1.578" velocity="5.7"/>
  </joint>
  <!-- /shoulder yaw -->
  <!-- shoulder roll -->
  <joint name="j_arm1_2" type="revolute">
    <parent link="arm1_1"/>
    <child link="arm1_2"/>
    <origin xyz="-0.09115 0.06106 0.010766"/>
    <axis xyz="-1 0 0"/>
    <limit effort="147" lower="-3.42" upper="-0.056" velocity="5.7"/>
  </joint>
  <!-- /shoulder roll -->
  <!-- shoulder pitch-->
  <joint name="j_arm1_3" type="revolute">
    <parent link="arm1_2"/>
    <child link="arm1_3"/>
    <origin xyz="0.09115 0.0 -0.21915"/>
    <axis xyz="0 0 -1"/>
    <limit effort="147" lower="-2.5556" upper="2.5424" velocity="8.2"/>
  </joint>
  <!-- /shoulder pitch -->
  <!-- elbow yaw -->
  <joint name="j_arm1_4" type="revolute">
    <parent link="arm1_3"/>
    <child link="arm1_4"/>
    <origin xyz="0.04 0.05615 -0.074"/>
    <axis xyz="0 1 0"/>
    <limit effort="147" lower="-2.4636" upper="0.2804" velocity="8.2"/>
  </joint>
  <!-- /elbow yaw -->
  <!-- elbow pitch-->
  <joint name="j_arm1_5" type="revolute">
    <parent link="arm1_4"/>
    <child link="arm1_5"/>
    <origin xyz="-0.015 -0.05615 -0.061"/>
    <axis xyz="0 0 -1"/>
    <limit effort="55" lower="-2.5406" upper="2.5534" velocity="11.6"/>
  </joint>
  <!-- /elbow pitch-->
  <!-- wrist yaw-->
  <joint name="j_arm1_6" type="revolute">
    <parent link="arm1_5"/>
    <child link="arm1_6"/>
    <origin xyz="0.0 0.049 -0.18"/>
    <axis xyz="0 1 0"/>
    <limit effort="55" lower="-1.5096" upper="1.5044" velocity="11.6"/>
  </joint>
  <!-- /wrist yaw-->
  <!-- wrist pitch-->
  <joint name="j_arm1_7" type="revolute">
    <parent link="arm1_6"/>
    <child link="arm1_7"/>
    <origin xyz="0.0 -0.049 -0.169"/>
    <axis xyz="0 0 -1"/>
    <limit effort="27" lower="-2.5376" upper="2.5554" velocity="20.3"/>
  </joint>
  <!-- wrist pitch-->
  <!-- force-troque sensor -->
  <transmission name="t_j_arm1_1">
    <type> transmission_interface/SimpleTransmission</type>
    <joint name="j_arm1_1">
      <hardwareInterface>hardware_interface/EffortJointInterface</hardwareInterface>
    </joint>
    <actuator name="motor_j_arm1_1">
      <hardwareInterface>hardware_interface/EffortJointInterface</hardwareInterface>
      <machanicalReduction>1</machanicalReduction>
    </actuator>
    <robotNamespace>/centauro</robotNamespace>
  </transmission>
  <transmission name="t_j_arm1_2">
    <type> transmission_interface/SimpleTransmission</type>
    <joint name="j_arm1_2">
      <hardwareInterface>hardware_interface/EffortJointInterface</hardwareInterface>
    </joint>
    <actuator name="motor_j_arm1_2">
      <hardwareInterface>hardware_interface/EffortJointInterface</hardwareInterface>
      <machanicalReduction>1</machanicalReduction>
    </actuator>
    <robotNamespace>/centauro</robotNamespace>
  </transmission>
  <transmission name="t_j_arm1_3">
    <type> transmission_interface/SimpleTransmission</type>
    <joint name="j_arm1_3">
      <hardwareInterface>hardware_interface/EffortJointInterface</hardwareInterface>
    </joint>
    <actuator name="motor_j_arm1_3">
      <hardwareInterface>hardware_interface/EffortJointInterface</hardwareInterface>
      <machanicalReduction>1</machanicalReduction>
    </actuator>
    <robotNamespace>/centauro</robotNamespace>
  </transmission>
  <transmission name="t_j_arm1_4">
    <type> transmission_interface/SimpleTransmission</type>
    <joint name="j_arm1_4">
      <hardwareInterface>hardware_interface/EffortJointInterface</hardwareInterface>
    </joint>
    <actuator name="motor_j_arm1_4">
      <hardwareInterface>hardware_interface/EffortJointInterface</hardwareInterface>
      <machanicalReduction>1</machanicalReduction>
    </actuator>
    <robotNamespace>/centauro</robotNamespace>
  </transmission>
  <transmission name="t_j_arm1_5">
    <type> transmission_interface/SimpleTransmission</type>
    <joint name="j_arm1_5">
      <hardwareInterface>hardware_interface/EffortJointInterface</hardwareInterface>
    </joint>
    <actuator name="motor_j_arm1_5">
      <hardwareInterface>hardware_interface/EffortJointInterface</hardwareInterface>
      <machanicalReduction>1</machanicalReduction>
    </actuator>
    <robotNamespace>/centauro</robotNamespace>
  </transmission>
  <transmission name="t_j_arm1_6">
    <type> transmission_interface/SimpleTransmission</type>
    <joint name="j_arm1_6">
      <hardwareInterface>hardware_interface/EffortJointInterface</hardwareInterface>
    </joint>
    <actuator name="motor_j_arm1_6">
      <hardwareInterface>hardware_interface/EffortJointInterface</hardwareInterface>
      <machanicalReduction>1</machanicalReduction>
    </actuator>
    <robotNamespace>/centauro</robotNamespace>
  </transmission>
  <transmission name="t_j_arm1_7">
    <type> transmission_interface/SimpleTransmission</type>
    <joint name="j_arm1_7">
      <hardwareInterface>hardware_interface/EffortJointInterface</hardwareInterface>
    </joint>
    <actuator name="motor_j_arm1_7">
      <hardwareInterface>hardware_interface/EffortJointInterface</hardwareInterface>
      <machanicalReduction>1</machanicalReduction>
    </actuator>
    <robotNamespace>/centauro</robotNamespace>
  </transmission>
  <!-- /actuators -->
  <!-- wrist pitch-->
  <joint name="j_ft_1" type="revolute">
    <parent link="arm1_7"/>
    <child link="ft_arm1"/>
    <origin rpy="0.0 3.14159265359 -3.14159265359" xyz="0.0 0.0 -0.0405"/>
    <axis xyz="0 0 1"/>
    <limit effort="0" lower="0.0" upper="0.0" velocity="0"/>
  </joint>
  <!-- wrist pitch-->
  <link name="ft_arm1">
    <inertial>
      <origin xyz="0.0 -0.0 0.0"/>
      <mass value="0.15"/>
      <inertia ixx="1e-06" ixy="-0.0" ixz="0.0" iyy="1e-06" iyz="-0.0" izz="1e-06"/>
    </inertial>
  </link>
  <transmission name="t_j_ft_1">
    <type> transmission_interface/SimpleTransmission</type>
    <joint name="j_ft_1">
      <hardwareInterface>hardware_interface/EffortJointInterface</hardwareInterface>
    </joint>
    <actuator name="motor_j_ft_1">
      <hardwareInterface>hardware_interface/EffortJointInterface</hardwareInterface>
      <machanicalReduction>1</machanicalReduction>
    </actuator>
    <robotNamespace>/centauro</robotNamespace>
  </transmission>
  <!-- links -->
  <link name="arm1_8">
    <inertial>
      <origin rpy="0 0 0" xyz="0.001 0.0 0.006"/>
      <mass value="0.15"/>
      <inertia ixx="0.0002" ixy="0.0" ixz="0.0" iyy="0.0002" iyz="0.0" izz="1e-05"/>
      <!--          <inertia ixx="0.003"  ixy="0"  ixz="0" iyy="0.0025" iyz="0" izz="0.00016900" /> -->
    </inertial>
    <visual>
      <origin rpy="0.0 0.0 0.0" xyz="0.0 0.0 0.0"/>
      <geometry>
        <mesh filename="meshes/simplified/link9.stl" scale="0.001 -0.001 -0.001"/>
      </geometry>
      <material name="dark_grey"/>
    </visual>
    <collision>
      <origin rpy="0.0 0.0 0.0" xyz="0.0 0.0 0.0"/>
      <geometry>
        <mesh filename="meshes/convex_hull/link9.stl" scale="0.001 -0.001 -0.001"/>
      </geometry>
    </collision>
  </link>
  <!-- /links -->
  <!-- joints -->
  <joint name="j_arm1_8" type="fixed">
    <parent link="ft_arm1"/>
    <origin rpy="0.0 0.0 -1.5707963268" xyz="0.0 0.0 0.0"/>
    <child link="arm1_8"/>
    <axis xyz="1 0 0"/>
  </joint>
   --&gt;

  <!-- /joints -->
  <!-- /end-effector -->
  <!-- LINKS -->
  <!-- shoulder yaw-roll-->
  <link name="arm2_1">
    <inertial>
      <origin xyz="-0.0031005886 -0.040324584 0.007451937"/>
      <mass value="1.5583338"/>
      <inertia ixx="0.0032318636" ixy="-4.24587e-05" ixz="4.91626e-05" iyy="0.00275718" iyz="0.0002387056" izz="0.004275047"/>
    </inertial>
    <visual>
      <origin rpy="0.0 0.0 0.0" xyz="0.0 0.0 0.0"/>
      <geometry>
        <mesh filename="meshes/simplified/link2.stl" scale="0.001 0.001 0.001"/>
      </geometry>
      <material name="dark_grey"/>
    </visual>
    <collision>
      <origin rpy="0.0 0.0 0.0" xyz="0.0 0.0 0.0"/>
      <geometry>
        <mesh filename="meshes/convex_hull/link2.stl" scale="0.001 0.001 0.001"/>
      </geometry>
    </collision>
  </link>
  <!-- shoulder yaw-roll-->
  <!-- shoulder roll-pitch-->
  <link name="arm2_2">
    <inertial>
      <origin xyz="0.05105435 -0.00011109 -0.07643596"/>
      <mass value="1.515061"/>
      <inertia ixx="0.01029558" ixy="-2.846e-05" ixz="0.0036567" iyy="0.01178018" iyz="-2.088e-05" izz="0.00386123"/>
    </inertial>
    <visual>
      <origin rpy="0.0 0.0 0.0" xyz="0.0 0.0 0.0"/>
      <geometry>
        <mesh filename="meshes/simplified/link3.stl" scale="0.001 0.001 0.001"/>
      </geometry>
    </visual>
    <collision>
      <origin rpy="0.0 0.0 0.0" xyz="0.0 0.0 0.0"/>
      <geometry>
        <mesh filename="meshes/convex_hull/link3.stl" scale="0.001 0.001 0.001"/>
      </geometry>
    </collision>
  </link>
  <!-- shoulder roll-pitch-->
  <!-- shoulder-elbow -->
  <link name="arm2_3">
    <inertial>
      <origin xyz="0.01207624 -0.00322013 -0.03427312"/>
      <mass value="1.5088101"/>
      <inertia ixx="0.00469819" ixy="0.00026547" ixz="0.00077706" iyy="0.00501755" iyz="-0.00029679" izz="0.00310954"/>
    </inertial>
    <visual>
      <origin rpy="0.0 0.0 0.0" xyz="0.0 0.0 0.0"/>
      <geometry>
        <mesh filename="meshes/simplified/link4.stl" scale="0.001 0.001 0.001"/>
      </geometry>
      <material name="dark_grey"/>
    </visual>
    <collision>
      <origin rpy="0.0 0.0 0.0" xyz="0.0 0.0 0.0"/>
      <geometry>
        <mesh filename="meshes/convex_hull/link4.stl" scale="0.001 0.001 0.001"/>
      </geometry>
    </collision>
  </link>
  <!-- /shoulder-elbow -->
  <!-- elbow yaw-pitch -->
  <link name="arm2_4">
    <inertial>
      <origin xyz="0.010147552 0.029928537 -0.032528288"/>
      <mass value="0.96297329"/>
      <inertia ixx="0.0026493567" ixy="-5.1632e-06" ixz="0.0001292309" iyy="0.0023470955" iyz="0.0007895755" izz="0.0012213063"/>
    </inertial>
    <visual>
      <origin rpy="0.0 0.0 0.0" xyz="0.0 0.0 0.0"/>
      <geometry>
        <mesh filename="meshes/simplified/link5.stl" scale="0.001 0.001 0.001"/>
      </geometry>
    </visual>
    <collision>
      <origin rpy="0.0 0.0 0.0" xyz="0.0 0.0 0.0"/>
      <geometry>
        <mesh filename="meshes/convex_hull/link5.stl" scale="0.001 0.001 0.001"/>
      </geometry>
    </collision>
  </link>
  <!-- /elbow yaw-pitch -->
  <!-- elbow-wrist -->
  <link name="arm2_5">
    <inertial>
      <origin xyz="-0.0001574443 -0.0041320907 -0.10756614"/>
      <mass value="1.4703698"/>
      <inertia ixx="0.0064160453" ixy="-1.96382e-05" ixz="2.49912e-05" iyy="0.0062016367" iyz="0.0001987903" izz="0.0017091658"/>
    </inertial>
    <visual>
      <origin rpy="0.0 0.0 0.0" xyz="0.0 0.0 0.0"/>
      <geometry>
        <mesh filename="meshes/simplified/link6.stl" scale="0.001 0.001 0.001"/>
      </geometry>
      <material name="dark_grey"/>
    </visual>
    <collision>
      <origin rpy="0.0 0.0 0.0" xyz="0.0 0.0 0.0"/>
      <geometry>
        <mesh filename="meshes/convex_hull/link6.stl" scale="0.001 0.001 0.001"/>
      </geometry>
    </collision>
  </link>
  <!-- /elbow-wrist -->
  <!-- wrist yaw-pitch -->
  <link name="arm2_6">
    <inertial>
      <origin xyz="3.23645e-05 0.035947237 -0.080878061"/>
      <mass value="0.94693868"/>
      <inertia ixx="0.0036896582" ixy="-2.63667e-05" ixz="1.4005e-06" iyy="0.0034146283" iyz="0.0008268103" izz="0.0010790183"/>
    </inertial>
    <visual>
      <origin rpy="0.0 0.0 0.0" xyz="0.0 0.0 0.0"/>
      <geometry>
        <mesh filename="meshes/simplified/link7.stl" scale="0.001 0.001 0.001"/>
      </geometry>
    </visual>
    <collision>
      <origin rpy="0.0 0.0 0.0" xyz="0.0 0.0 0.0"/>
      <geometry>
        <mesh filename="meshes/convex_hull/link7.stl" scale="0.001 0.001 0.001"/>
      </geometry>
    </collision>
  </link>
  <!-- /wrist yaw-pitch -->
  <link name="arm2_7">
    <inertial>
      <origin xyz="2.46596e-05 0.0001467705 -0.0052993013"/>
      <mass value="0.55981036"/>
      <inertia ixx="0.0004360175" ixy="-1.397e-07" ixz="-1.382e-07" iyy="0.0004299166" iyz="1.4752e-06" izz="0.0004522224"/>
    </inertial>
    <visual>
      <origin rpy="0.0 0.0 0.0" xyz="0.0 0.0 0.0"/>
      <geometry>
        <mesh filename="meshes/simplified/link8.stl" scale="0.001 0.001 0.001"/>
      </geometry>
      <material name="dark_grey"/>
    </visual>
    <collision>
      <origin rpy="0.0 0.0 0.0" xyz="0.0 0.0 0.0"/>
      <geometry>
        <mesh filename="meshes/convex_hull/link8.stl" scale="0.001 0.001 0.001"/>
      </geometry>
    </collision>
  </link>
  <!-- /LINKS -->
  <!-- JOINTS -->
  <!-- shoulder yaw -->
  <joint name="j_arm2_1" type="revolute">
    <parent link="torso_2"/>
    <child link="arm2_1"/>
    <origin rpy="0.0 0.0 0.523602668986" xyz="0.04576 -0.169137 0.116626"/>
    <axis xyz="0 -0.984807753012 0.173648177667"/>
    <limit effort="147" lower="-1.6102" upper="3.3138" velocity="5.7"/>
  </joint>
  <!-- /shoulder yaw -->
  <!-- shoulder roll -->
  <joint name="j_arm2_2" type="revolute">
    <parent link="arm2_1"/>
    <child link="arm2_2"/>
    <origin xyz="-0.09115 -0.06106 0.010766"/>
    <axis xyz="-1 0 0"/>
    <limit effort="147" lower="0.0578" upper="3.4288" velocity="5.7"/>
  </joint>
  <!-- /shoulder roll -->
  <!-- shoulder pitch-->
  <joint name="j_arm2_3" type="revolute">
    <parent link="arm2_2"/>
    <child link="arm2_3"/>
    <origin xyz="0.09115 0.0 -0.21915"/>
    <axis xyz="0 0 -1"/>
    <limit effort="147" lower="-2.5426" upper="2.5524" velocity="8.2"/>
  </joint>
  <!-- /shoulder pitch -->
  <!-- elbow yaw -->
  <joint name="j_arm2_4" type="revolute">
    <parent link="arm2_3"/>
    <child link="arm2_4"/>
    <origin xyz="0.04 -0.05615 -0.074"/>
    <axis xyz="0 -1 0"/>
    <limit effort="147" lower="-0.2796" upper="2.4564" velocity="8.2"/>
  </joint>
  <!-- /elbow yaw -->
  <!-- elbow pitch-->
  <joint name="j_arm2_5" type="revolute">
    <parent link="arm2_4"/>
    <child link="arm2_5"/>
    <origin xyz="-0.015 0.05615 -0.061"/>
    <axis xyz="0 0 -1"/>
    <limit effort="55" lower="-2.5626" upper="2.5464" velocity="11.6"/>
  </joint>
  <!-- /elbow pitch-->
  <!-- wrist yaw-->
  <joint name="j_arm2_6" type="revolute">
    <parent link="arm2_5"/>
    <child link="arm2_6"/>
    <origin xyz="0.0 -0.049 -0.18"/>
    <axis xyz="0 -1 0"/>
    <limit effort="55" lower="-1.4726" upper="1.5364" velocity="11.6"/>
  </joint>
  <!-- /wrist yaw-->
  <!-- wrist pitch-->
  <joint name="j_arm2_7" type="revolute">
    <parent link="arm2_6"/>
    <child link="arm2_7"/>
    <origin xyz="0.0 0.049 -0.169"/>
    <axis xyz="0 0 -1"/>
    <limit effort="27" lower="-3.0908" upper="2.0114" velocity="20.3"/>
  </joint>
  <!-- wrist pitch-->
  <!-- force-troque sensor -->
  <transmission name="t_j_arm2_1">
    <type> transmission_interface/SimpleTransmission</type>
    <joint name="j_arm2_1">
      <hardwareInterface>hardware_interface/EffortJointInterface</hardwareInterface>
    </joint>
    <actuator name="motor_j_arm2_1">
      <hardwareInterface>hardware_interface/EffortJointInterface</hardwareInterface>
      <machanicalReduction>1</machanicalReduction>
    </actuator>
    <robotNamespace>/centauro</robotNamespace>
  </transmission>
  <transmission name="t_j_arm2_2">
    <type> transmission_interface/SimpleTransmission</type>
    <joint name="j_arm2_2">
      <hardwareInterface>hardware_interface/EffortJointInterface</hardwareInterface>
    </joint>
    <actuator name="motor_j_arm2_2">
      <hardwareInterface>hardware_interface/EffortJointInterface</hardwareInterface>
      <machanicalReduction>1</machanicalReduction>
    </actuator>
    <robotNamespace>/centauro</robotNamespace>
  </transmission>
  <transmission name="t_j_arm2_3">
    <type> transmission_interface/SimpleTransmission</type>
    <joint name="j_arm2_3">
      <hardwareInterface>hardware_interface/EffortJointInterface</hardwareInterface>
    </joint>
    <actuator name="motor_j_arm2_3">
      <hardwareInterface>hardware_interface/EffortJointInterface</hardwareInterface>
      <machanicalReduction>1</machanicalReduction>
    </actuator>
    <robotNamespace>/centauro</robotNamespace>
  </transmission>
  <transmission name="t_j_arm2_4">
    <type> transmission_interface/SimpleTransmission</type>
    <joint name="j_arm2_4">
      <hardwareInterface>hardware_interface/EffortJointInterface</hardwareInterface>
    </joint>
    <actuator name="motor_j_arm2_4">
      <hardwareInterface>hardware_interface/EffortJointInterface</hardwareInterface>
      <machanicalReduction>1</machanicalReduction>
    </actuator>
    <robotNamespace>/centauro</robotNamespace>
  </transmission>
  <transmission name="t_j_arm2_5">
    <type> transmission_interface/SimpleTransmission</type>
    <joint name="j_arm2_5">
      <hardwareInterface>hardware_interface/EffortJointInterface</hardwareInterface>
    </joint>
    <actuator name="motor_j_arm2_5">
      <hardwareInterface>hardware_interface/EffortJointInterface</hardwareInterface>
      <machanicalReduction>1</machanicalReduction>
    </actuator>
    <robotNamespace>/centauro</robotNamespace>
  </transmission>
  <transmission name="t_j_arm2_6">
    <type> transmission_interface/SimpleTransmission</type>
    <joint name="j_arm2_6">
      <hardwareInterface>hardware_interface/EffortJointInterface</hardwareInterface>
    </joint>
    <actuator name="motor_j_arm2_6">
      <hardwareInterface>hardware_interface/EffortJointInterface</hardwareInterface>
      <machanicalReduction>1</machanicalReduction>
    </actuator>
    <robotNamespace>/centauro</robotNamespace>
  </transmission>
  <transmission name="t_j_arm2_7">
    <type> transmission_interface/SimpleTransmission</type>
    <joint name="j_arm2_7">
      <hardwareInterface>hardware_interface/EffortJointInterface</hardwareInterface>
    </joint>
    <actuator name="motor_j_arm2_7">
      <hardwareInterface>hardware_interface/EffortJointInterface</hardwareInterface>
      <machanicalReduction>1</machanicalReduction>
    </actuator>
    <robotNamespace>/centauro</robotNamespace>
  </transmission>
  <!-- /actuators -->
  <!-- wrist pitch-->
  <joint name="j_ft_2" type="revolute">
    <parent link="arm2_7"/>
    <child link="ft_arm2"/>
    <origin rpy="0.0 3.14159265359 -3.14159265359" xyz="0.0 0.0 -0.0405"/>
    <axis xyz="0 0 1"/>
    <limit effort="0" lower="0.0" upper="0.0" velocity="0"/>
  </joint>
  <!-- wrist pitch-->
  <link name="ft_arm2">
    <inertial>
      <origin xyz="0.0 0.0 0.0"/>
      <mass value="0.15"/>
      <inertia ixx="1e-06" ixy="0.0" ixz="0.0" iyy="1e-06" iyz="0.0" izz="1e-06"/>
    </inertial>
  </link>
  <transmission name="t_j_ft_2">
    <type> transmission_interface/SimpleTransmission</type>
    <joint name="j_ft_2">
      <hardwareInterface>hardware_interface/EffortJointInterface</hardwareInterface>
    </joint>
    <actuator name="motor_j_ft_2">
      <hardwareInterface>hardware_interface/EffortJointInterface</hardwareInterface>
      <machanicalReduction>1</machanicalReduction>
    </actuator>
    <robotNamespace>/centauro</robotNamespace>
  </transmission>
  <!-- links -->
  <link name="arm2_8">
    <inertial>
      <origin rpy="0 0 0" xyz="0.001 0.0 0.006"/>
      <mass value="0.15"/>
      <inertia ixx="0.0002" ixy="0.0" ixz="0.0" iyy="0.0002" iyz="0.0" izz="1e-05"/>
      <!--          <inertia ixx="0.003"  ixy="0"  ixz="0" iyy="0.0025" iyz="0" izz="0.00016900" /> -->
    </inertial>
    <visual>
      <origin rpy="0.0 0.0 0.0" xyz="0.0 0.0 0.0"/>
      <geometry>
        <mesh filename="meshes/simplified/link9.stl" scale="0.001 0.001 -0.001"/>
      </geometry>
      <material name="dark_grey"/>
    </visual>
    <collision>
      <origin rpy="0.0 0.0 0.0" xyz="0.0 0.0 0.0"/>
      <geometry>
        <mesh filename="meshes/convex_hull/link9.stl" scale="0.001 0.001 -0.001"/>
      </geometry>
    </collision>
  </link>
  <!-- /links -->
  <!-- joints -->
  <joint name="j_arm2_8" type="fixed">
    <parent link="ft_arm2"/>
    <origin rpy="0.0 0.0 -1.5707963268" xyz="0.0 0.0 0.0"/>
    <child link="arm2_8"/>
    <axis xyz="1 0 0"/>
  </joint>
   --&gt;

  <!-- /joints -->
  <!-- /end-effector -->
  <!-- /arms -->
  <link name="hip1_1">
    <inertial>
      <origin xyz="0.010214199 -0.018348359 0.038090987"/>
      <mass value="1.9194403"/>
      <!-- org: 2 -->
      <inertia ixx="0.0047439572" ixy="0.0005747047" ixz="-0.0003784138" iyy="0.0040551878" iyz="0.0007407508" izz="0.0034146219"/>
      <!-- <inertia ixx="0.01" ixy="0.01" ixz="0.01" iyy="0.01" iyz="0.01" izz="0.01"/> -->
    </inertial>
    <visual>
      <origin rpy="0.0 0.0 4.06442490005" xyz="0.0 0.0 0.0"/>
      <geometry>
        <mesh filename="meshes/simplified/hip-yaw.stl" scale="0.001 0.001 0.001"/>
      </geometry>
      <material name="dark_grey"/>
    </visual>
    <collision>
      <origin rpy="0.0 0.0 4.06442490005" xyz="0.0 0.0 0.0"/>
      <geometry>
        <mesh filename="meshes/convex_hull/hip-yaw.stl" scale="0.001 0.001 0.001"/>
      </geometry>
    </collision>
  </link>
  <link name="hip2_1">
    <inertial>
      <origin xyz="2.57966e-05 0.1810266 0.085669756"/>
      <mass value="2.7264471"/>
      <!-- org: 4.5 -->
      <inertia ixx="0.04851869" ixy="-4.11894e-05" ixz="-1.68778e-05" iyy="0.004242055" iyz="0.0032243188" izz="0.04825583"/>
      <!-- <inertia ixx="0.01" ixy="0.01" ixz="0.01" iyy="0.01" iyz="0.01" izz="0.01"/> -->
    </inertial>
    <visual>
      <origin rpy="0.0 0.0 0.0" xyz="0.0 0.0 0.0"/>
      <geometry>
        <mesh filename="meshes/simplified/hip-pitch.stl" scale="0.001 0.001 0.001"/>
      </geometry>
    </visual>
    <collision>
      <origin rpy="0.0 0.0 0.0" xyz="0.0 0.0 0.0"/>
      <geometry>
        <mesh filename="meshes/convex_hull/hip-pitch.stl" scale="0.001 0.001 0.001"/>
      </geometry>
    </collision>
  </link>
  <link name="knee_1">
    <inertial>
      <origin xyz="0.10881667 0.0001089081 -0.022638996"/>
      <mass value="1.9356754"/>
      <!-- org: 3.5, foot un modeled-->
      <inertia ixx="0.0030534242" ixy="-4.22079e-05" ixz="0.0013679297" iyy="0.019603321" iyz="6.9941e-06" izz="0.019849817"/>
      <!--	<inertia ixx="0.01" ixy="0.01" ixz="0.01" iyy="0.01" iyz="0.01" izz="0.01"/>  -->
    </inertial>
    <visual>
      <origin rpy="0.0 0.0 0.0" xyz="0.0 0.0 0.0"/>
      <geometry>
        <mesh filename="meshes/simplified/knee.stl" scale="0.001 0.001 0.001"/>
      </geometry>
      <material name="dark_grey"/>
    </visual>
    <collision>
      <origin rpy="0.0 0.0 0.0" xyz="0.0 0.0 0.0"/>
      <geometry>
        <mesh filename="meshes/convex_hull/knee.stl" scale="0.001 0.001 0.001"/>
      </geometry>
    </collision>
  </link>
  <link name="ankle1_1">
    <inertial>
      <origin xyz="0.032137318 9.73572e-05 -0.0044222206"/>
      <mass value="1.2380744"/>
      <!-- org: 3.5, foot un modeled-->
      <inertia ixx="0.0015610452" ixy="3.30597e-05" ixz="-0.0001314174" iyy="0.0037423211" iyz="-2.12589e-05" izz="0.0038312442"/>
      <!--	<inertia ixx="0.01" ixy="0.01" ixz="0.01" iyy="0.01" iyz="0.01" izz="0.01"/>  -->
    </inertial>
    <visual>
      <origin rpy="0.0 0.0 0.0" xyz="0.0 0.0 0.0"/>
      <geometry>
        <mesh filename="meshes/simplified/ankle-pitch.stl" scale="0.001 0.001 0.001"/>
      </geometry>
    </visual>
    <collision>
      <origin rpy="0.0 0.0 0.0" xyz="0.0 0.0 0.0"/>
      <geometry>
        <mesh filename="meshes/convex_hull/ankle-pitch.stl" scale="0.001 0.001 0.001"/>
      </geometry>
    </collision>
  </link>
  <link name="ankle2_1">
    <inertial>
      <origin xyz="0.0004435803 0.0004389911 0.19392092"/>
      <mass value="1.1565926"/>
      <!-- org: 3.5, foot un modeled-->
      <inertia ixx="0.0049019475" ixy="4.3032e-06" ixz="3.46491e-05" iyy="0.0038724162" iyz="1.7099e-05" izz="0.0021783198"/>
    </inertial>
    <visual>
      <origin rpy="0.0 0.0 0.0" xyz="0.0 0.0 0.0"/>
      <geometry>
        <mesh filename="meshes/simplified/ankle-yaw.stl" scale="0.001 0.001 0.001"/>
      </geometry>
      <material name="dark_grey"/>
    </visual>
    <collision>
      <origin rpy="0.0 0.0 0.0" xyz="0.0 0.0 0.0"/>
      <geometry>
        <mesh filename="meshes/convex_hull/ankle-yaw.stl" scale="0.001 0.001 0.001"/>
      </geometry>
    </collision>
  </link>
  <link name="wheel_1">
    <inertial>
      <origin xyz="0.0 0.0 0.0024271906"/>
      <mass value="1.7289003"/>
      <!-- org: 3.5, foot un modeled-->
      <inertia ixx="0.0046864297" ixy="0.0" ixz="0.0" iyy="0.0046713489" iyz="0.0" izz="0.0053126029"/>
    </inertial>
    <visual>
      <origin rpy="0.0 0.0 0.0" xyz="0.0 0.0 0.0"/>
      <geometry>
        <mesh filename="meshes/simplified/wheel.stl" scale="0.001 0.001 0.001"/>
      </geometry>
      <material name="black"/>
    </visual>
    <collision>
      <origin rpy="0.0 0.0 0.0" xyz="0.0 0.0 0.0"/>
      <geometry>
        <mesh filename="meshes/convex_hull/wheel.stl" scale="0.001 0.001 0.001"/>
      </geometry>
    </collision>
  </link>
  <joint name="hip_yaw_1" type="revolute">
    <parent link="pelvis"/>
    <child link="hip1_1"/>
    <origin rpy="3.14159265359 0.0 0.461416123228" xyz="0.25 0.125 -0.0566"/>
    <axis xyz="0 0 1"/>
    <limit effort="304" lower="-0.9432" upper="2.5138" velocity="8.8"/>
  </joint>
  <joint name="hip_pitch_1" type="revolute">
    <parent link="hip1_1"/>
    <child link="hip2_1"/>
    <origin rpy="1.57079632679 0.0 0.46141612323" xyz="0.0 0.0 0.0625"/>
    <axis xyz="0 0 1"/>
    <limit effort="304" lower="-2.0226" upper="2.02748" velocity="8.8"/>
  </joint>
  <joint name="knee_pitch_1" type="revolute">
    <parent link="hip2_1"/>
    <child link="knee_1"/>
    <origin rpy="3.14159265359 0.0 1.57079632679" xyz="0.0 0.3 -0.0036"/>
    <axis xyz="0 0 1"/>
    <limit effort="304" lower="-2.4056" upper="2.3994" velocity="8.8"/>
  </joint>
  <joint name="ankle_pitch_1" type="revolute">
    <parent link="knee_1"/>
    <child link="ankle1_1"/>
    <origin rpy="3.14159265359 0.0 0.0" xyz="0.2 0.0 -0.10015"/>
    <axis xyz="0 0 1"/>
    <limit effort="147" lower="-2.4056" upper="2.3184" velocity="8.1"/>
  </joint>
  <joint name="ankle_yaw_1" type="revolute">
    <parent link="ankle1_1"/>
    <child link="ankle2_1"/>
    <origin rpy="1.57079632679 0.0 1.57079632679" xyz="0.0 0.0 0.0"/>
    <axis xyz="0 0 1"/>
    <limit effort="35" lower="-2.5626" upper="2.5384" velocity="20.0"/>
  </joint>
  <joint name="j_wheel_1" type="continuous">
    <parent link="ankle2_1"/>
    <child link="wheel_1"/>
    <origin rpy="1.57079632679 0.0 3.14159265359" xyz="0.0 0.00085 0.23735"/>
    <axis xyz="0 0 -1"/>
    <limit effort="35" velocity="20.0"/>
  </joint>
  <transmission name="t_hip_yaw_1">
    <type> transmission_interface/SimpleTransmission</type>
    <joint name="hip_yaw_1">
      <hardwareInterface>hardware_interface/EffortJointInterface</hardwareInterface>
    </joint>
    <actuator name="motor_hip_yaw_1">
      <hardwareInterface>hardware_interface/EffortJointInterface</hardwareInterface>
      <machanicalReduction>1</machanicalReduction>
    </actuator>
    <robotNamespace>/centauro</robotNamespace>
  </transmission>
  <transmission name="t_hip_pitch_1">
    <type> transmission_interface/SimpleTransmission</type>
    <joint name="hip_pitch_1">
      <hardwareInterface>hardware_interface/EffortJointInterface</hardwareInterface>
    </joint>
    <actuator name="motor_hip_pitch_1">
      <hardwareInterface>hardware_interface/EffortJointInterface</hardwareInterface>
      <machanicalReduction>1</machanicalReduction>
    </actuator>
    <robotNamespace>/centauro</robotNamespace>
  </transmission>
  <transmission name="t_knee_pitch_1">
    <type> transmission_interface/SimpleTransmission</type>
    <joint name="knee_pitch_1">
      <hardwareInterface>hardware_interface/EffortJointInterface</hardwareInterface>
    </joint>
    <actuator name="motor_knee_pitch_1">
      <hardwareInterface>hardware_interface/EffortJointInterface</hardwareInterface>
      <machanicalReduction>1</machanicalReduction>
    </actuator>
    <robotNamespace>/centauro</robotNamespace>
  </transmission>
  <transmission name="t_ankle_pitch_1">
    <type> transmission_interface/SimpleTransmission</type>
    <joint name="ankle_pitch_1">
      <hardwareInterface>hardware_interface/EffortJointInterface</hardwareInterface>
    </joint>
    <actuator name="motor_ankle_pitch_1">
      <hardwareInterface>hardware_interface/EffortJointInterface</hardwareInterface>
      <machanicalReduction>1</machanicalReduction>
    </actuator>
    <robotNamespace>/centauro</robotNamespace>
  </transmission>
  <transmission name="t_ankle_yaw_1">
    <type> transmission_interface/SimpleTransmission</type>
    <joint name="ankle_yaw_1">
      <hardwareInterface>hardware_interface/EffortJointInterface</hardwareInterface>
    </joint>
    <actuator name="motor_ankle_yaw_1">
      <hardwareInterface>hardware_interface/EffortJointInterface</hardwareInterface>
      <machanicalReduction>1</machanicalReduction>
    </actuator>
    <robotNamespace>/centauro</robotNamespace>
  </transmission>
  <transmission name="t_j_wheel_1">
    <type> transmission_interface/SimpleTransmission</type>
    <joint name="j_wheel_1">
      <hardwareInterface>hardware_interface/EffortJointInterface</hardwareInterface>
    </joint>
    <actuator name="motor_j_wheel_1">
      <hardwareInterface>hardware_interface/EffortJointInterface</hardwareInterface>
      <machanicalReduction>1</machanicalReduction>
    </actuator>
    <robotNamespace>/centauro</robotNamespace>
  </transmission>
  <!-- /actuators -->
  <link name="hip1_2">
    <inertial>
      <origin xyz="0.010214199 0.018348359 0.038090987"/>
      <mass value="1.9194403"/>
      <!-- org: 2 -->
      <inertia ixx="0.0047439572" ixy="-0.0005747047" ixz="-0.0003784138" iyy="0.0040551878" iyz="-0.0007407508" izz="0.0034146219"/>
      <!-- <inertia ixx="0.01" ixy="0.01" ixz="0.01" iyy="0.01" iyz="0.01" izz="0.01"/> -->
    </inertial>
    <visual>
      <origin rpy="0.0 0.0 0.0" xyz="0.0 0.0 0.0"/>
      <geometry>
        <mesh filename="meshes/simplified/hip-yaw.stl" scale="0.001 0.001 0.001"/>
      </geometry>
      <material name="dark_grey"/>
    </visual>
    <collision>
      <origin rpy="0.0 0.0 0.0" xyz="0.0 0.0 0.0"/>
      <geometry>
        <mesh filename="meshes/convex_hull/hip-yaw.stl" scale="0.001 0.001 0.001"/>
      </geometry>
    </collision>
  </link>
  <link name="hip2_2">
    <inertial>
      <origin xyz="2.57966e-05 0.1810266 0.085669756"/>
      <mass value="2.7264471"/>
      <!-- org: 4.5 -->
      <inertia ixx="0.04851869" ixy="-4.11894e-05" ixz="-1.68778e-05" iyy="0.004242055" iyz="0.0032243188" izz="0.04825583"/>
      <!-- <inertia ixx="0.01" ixy="0.01" ixz="0.01" iyy="0.01" iyz="0.01" izz="0.01"/> -->
    </inertial>
    <visual>
      <origin rpy="0.0 0.0 0.0" xyz="0.0 0.0 0.0"/>
      <geometry>
        <mesh filename="meshes/simplified/hip-pitch.stl" scale="0.001 0.001 0.001"/>
      </geometry>
    </visual>
    <collision>
      <origin rpy="0.0 0.0 0.0" xyz="0.0 0.0 0.0"/>
      <geometry>
        <mesh filename="meshes/convex_hull/hip-pitch.stl" scale="0.001 0.001 0.001"/>
      </geometry>
    </collision>
  </link>
  <link name="knee_2">
    <inertial>
      <origin xyz="0.10881667 0.0001089081 -0.022638996"/>
      <mass value="1.9356754"/>
      <!-- org: 3.5, foot un modeled-->
      <inertia ixx="0.0030534242" ixy="-4.22079e-05" ixz="0.0013679297" iyy="0.019603321" iyz="6.9941e-06" izz="0.019849817"/>
      <!--	<inertia ixx="0.01" ixy="0.01" ixz="0.01" iyy="0.01" iyz="0.01" izz="0.01"/>  -->
    </inertial>
    <visual>
      <origin rpy="0.0 0.0 0.0" xyz="0.0 0.0 0.0"/>
      <geometry>
        <mesh filename="meshes/simplified/knee.stl" scale="0.001 0.001 0.001"/>
      </geometry>
      <material name="dark_grey"/>
    </visual>
    <collision>
      <origin rpy="0.0 0.0 0.0" xyz="0.0 0.0 0.0"/>
      <geometry>
        <mesh filename="meshes/convex_hull/knee.stl" scale="0.001 0.001 0.001"/>
      </geometry>
    </collision>
  </link>
  <link name="ankle1_2">
    <inertial>
      <origin xyz="0.032137318 9.73572e-05 -0.0044222206"/>
      <mass value="1.2380744"/>
      <!-- org: 3.5, foot un modeled-->
      <inertia ixx="0.0015610452" ixy="3.30597e-05" ixz="-0.0001314174" iyy="0.0037423211" iyz="-2.12589e-05" izz="0.0038312442"/>
      <!--	<inertia ixx="0.01" ixy="0.01" ixz="0.01" iyy="0.01" iyz="0.01" izz="0.01"/>  -->
    </inertial>
    <visual>
      <origin rpy="0.0 0.0 0.0" xyz="0.0 0.0 0.0"/>
      <geometry>
        <mesh filename="meshes/simplified/ankle-pitch.stl" scale="0.001 0.001 0.001"/>
      </geometry>
    </visual>
    <collision>
      <origin rpy="0.0 0.0 0.0" xyz="0.0 0.0 0.0"/>
      <geometry>
        <mesh filename="meshes/convex_hull/ankle-pitch.stl" scale="0.001 0.001 0.001"/>
      </geometry>
    </collision>
  </link>
  <link name="ankle2_2">
    <inertial>
      <origin xyz="0.0004435803 0.0004389911 0.19392092"/>
      <mass value="1.1565926"/>
      <!-- org: 3.5, foot un modeled-->
      <inertia ixx="0.0049019475" ixy="4.3032e-06" ixz="3.46491e-05" iyy="0.0038724162" iyz="1.7099e-05" izz="0.0021783198"/>
    </inertial>
    <visual>
      <origin rpy="0.0 0.0 0.0" xyz="0.0 0.0 0.0"/>
      <geometry>
        <mesh filename="meshes/simplified/ankle-yaw.stl" scale="0.001 0.001 0.001"/>
      </geometry>
      <material name="dark_grey"/>
    </visual>
    <collision>
      <origin rpy="0.0 0.0 0.0" xyz="0.0 0.0 0.0"/>
      <geometry>
        <mesh filename="meshes/convex_hull/ankle-yaw.stl" scale="0.001 0.001 0.001"/>
      </geometry>
    </collision>
  </link>
  <link name="wheel_2">
    <inertial>
      <origin xyz="0.0 0.0 0.0024271906"/>
      <mass value="1.7289003"/>
      <!-- org: 3.5, foot un modeled-->
      <inertia ixx="0.0046864297" ixy="0.0" ixz="0.0" iyy="0.0046713489" iyz="0.0" izz="0.0053126029"/>
    </inertial>
    <visual>
      <origin rpy="0.0 0.0 0.0" xyz="0.0 0.0 0.0"/>
      <geometry>
        <mesh filename="meshes/simplified/wheel.stl" scale="0.001 0.001 0.001"/>
      </geometry>
      <material name="black"/>
    </visual>
    <collision>
      <origin rpy="0.0 0.0 0.0" xyz="0.0 0.0 0.0"/>
      <geometry>
        <mesh filename="meshes/convex_hull/wheel.stl" scale="0.001 0.001 0.001"/>
      </geometry>
    </collision>
  </link>
  <joint name="hip_yaw_2" type="revolute">
    <parent link="pelvis"/>
    <child link="hip1_2"/>
    <origin rpy="3.14159265359 0.0 -0.461416123228" xyz="0.25 -0.125 -0.0566"/>
    <axis xyz="0 0 1"/>
    <limit effort="304" lower="-2.511" upper="0.943" velocity="8.8"/>
  </joint>
  <joint name="hip_pitch_2" type="revolute">
    <parent link="hip1_2"/>
    <child link="hip2_2"/>
    <origin rpy="1.57079632679 0.0 2.68017653036" xyz="0.0 0.0 0.0625"/>
    <axis xyz="0 0 1"/>
    <limit effort="304" lower="-2.0156" upper="2.0354" velocity="8.8"/>
  </joint>
  <joint name="knee_pitch_2" type="revolute">
    <parent link="hip2_2"/>
    <child link="knee_2"/>
    <origin rpy="3.14159265359 0.0 1.57079632679" xyz="0.0 0.3 -0.0036"/>
    <axis xyz="0 0 1"/>
    <limit effort="304" lower="-2.4006" upper="2.4034" velocity="8.8"/>
  </joint>
  <joint name="ankle_pitch_2" type="revolute">
    <parent link="knee_2"/>
    <child link="ankle1_2"/>
    <origin rpy="3.14159265359 0.0 0.0" xyz="0.2 0.0 -0.10015"/>
    <axis xyz="0 0 1"/>
    <limit effort="147" lower="-2.3266" upper="2.3914" velocity="8.1"/>
  </joint>
  <joint name="ankle_yaw_2" type="revolute">
    <parent link="ankle1_2"/>
    <child link="ankle2_2"/>
    <origin rpy="1.57079632679 0.0 1.57079632679" xyz="0.0 0.0 0.0"/>
    <axis xyz="0 0 1"/>
    <limit effort="35" lower="-2.5546" upper="2.5484" velocity="20.0"/>
  </joint>
  <joint name="j_wheel_2" type="continuous">
    <parent link="ankle2_2"/>
    <child link="wheel_2"/>
    <origin rpy="1.57079632679 0.0 3.14159265359" xyz="0.0 0.00085 0.23735"/>
    <axis xyz="0 0 -1"/>
    <limit effort="35" velocity="20.0"/>
  </joint>
  <transmission name="t_hip_yaw_2">
    <type> transmission_interface/SimpleTransmission</type>
    <joint name="hip_yaw_2">
      <hardwareInterface>hardware_interface/EffortJointInterface</hardwareInterface>
    </joint>
    <actuator name="motor_hip_yaw_2">
      <hardwareInterface>hardware_interface/EffortJointInterface</hardwareInterface>
      <machanicalReduction>1</machanicalReduction>
    </actuator>
    <robotNamespace>/centauro</robotNamespace>
  </transmission>
  <transmission name="t_hip_pitch_2">
    <type> transmission_interface/SimpleTransmission</type>
    <joint name="hip_pitch_2">
      <hardwareInterface>hardware_interface/EffortJointInterface</hardwareInterface>
    </joint>
    <actuator name="motor_hip_pitch_2">
      <hardwareInterface>hardware_interface/EffortJointInterface</hardwareInterface>
      <machanicalReduction>1</machanicalReduction>
    </actuator>
    <robotNamespace>/centauro</robotNamespace>
  </transmission>
  <transmission name="t_knee_pitch_2">
    <type> transmission_interface/SimpleTransmission</type>
    <joint name="knee_pitch_2">
      <hardwareInterface>hardware_interface/EffortJointInterface</hardwareInterface>
    </joint>
    <actuator name="motor_knee_pitch_2">
      <hardwareInterface>hardware_interface/EffortJointInterface</hardwareInterface>
      <machanicalReduction>1</machanicalReduction>
    </actuator>
    <robotNamespace>/centauro</robotNamespace>
  </transmission>
  <transmission name="t_ankle_pitch_2">
    <type> transmission_interface/SimpleTransmission</type>
    <joint name="ankle_pitch_2">
      <hardwareInterface>hardware_interface/EffortJointInterface</hardwareInterface>
    </joint>
    <actuator name="motor_ankle_pitch_2">
      <hardwareInterface>hardware_interface/EffortJointInterface</hardwareInterface>
      <machanicalReduction>1</machanicalReduction>
    </actuator>
    <robotNamespace>/centauro</robotNamespace>
  </transmission>
  <transmission name="t_ankle_yaw_2">
    <type> transmission_interface/SimpleTransmission</type>
    <joint name="ankle_yaw_2">
      <hardwareInterface>hardware_interface/EffortJointInterface</hardwareInterface>
    </joint>
    <actuator name="motor_ankle_yaw_2">
      <hardwareInterface>hardware_interface/EffortJointInterface</hardwareInterface>
      <machanicalReduction>1</machanicalReduction>
    </actuator>
    <robotNamespace>/centauro</robotNamespace>
  </transmission>
  <transmission name="t_j_wheel_2">
    <type> transmission_interface/SimpleTransmission</type>
    <joint name="j_wheel_2">
      <hardwareInterface>hardware_interface/EffortJointInterface</hardwareInterface>
    </joint>
    <actuator name="motor_j_wheel_2">
      <hardwareInterface>hardware_interface/EffortJointInterface</hardwareInterface>
      <machanicalReduction>1</machanicalReduction>
    </actuator>
    <robotNamespace>/centauro</robotNamespace>
  </transmission>
  <!-- /actuators -->
  <link name="hip1_3">
    <inertial>
      <origin xyz="0.010214199 0.018348359 0.038090987"/>
      <mass value="1.9194403"/>
      <!-- org: 2 -->
      <inertia ixx="0.0047439572" ixy="-0.0005747047" ixz="-0.0003784138" iyy="0.0040551878" iyz="-0.0007407508" izz="0.0034146219"/>
      <!-- <inertia ixx="0.01" ixy="0.01" ixz="0.01" iyy="0.01" iyz="0.01" izz="0.01"/> -->
    </inertial>
    <visual>
      <origin rpy="0.0 0.0 0.0" xyz="0.0 0.0 0.0"/>
      <geometry>
        <mesh filename="meshes/simplified/hip-yaw.stl" scale="0.001 0.001 0.001"/>
      </geometry>
      <material name="dark_grey"/>
    </visual>
    <collision>
      <origin rpy="0.0 0.0 0.0" xyz="0.0 0.0 0.0"/>
      <geometry>
        <mesh filename="meshes/convex_hull/hip-yaw.stl" scale="0.001 0.001 0.001"/>
      </geometry>
    </collision>
  </link>
  <link name="hip2_3">
    <inertial>
      <origin xyz="2.57966e-05 0.1810266 0.085669756"/>
      <mass value="2.7264471"/>
      <!-- org: 4.5 -->
      <inertia ixx="0.04851869" ixy="-4.11894e-05" ixz="-1.68778e-05" iyy="0.004242055" iyz="0.0032243188" izz="0.04825583"/>
      <!-- <inertia ixx="0.01" ixy="0.01" ixz="0.01" iyy="0.01" iyz="0.01" izz="0.01"/> -->
    </inertial>
    <visual>
      <origin rpy="0.0 0.0 0.0" xyz="0.0 0.0 0.0"/>
      <geometry>
        <mesh filename="meshes/simplified/hip-pitch.stl" scale="0.001 0.001 0.001"/>
      </geometry>
    </visual>
    <collision>
      <origin rpy="0.0 0.0 0.0" xyz="0.0 0.0 0.0"/>
      <geometry>
        <mesh filename="meshes/convex_hull/hip-pitch.stl" scale="0.001 0.001 0.001"/>
      </geometry>
    </collision>
  </link>
  <link name="knee_3">
    <inertial>
      <origin xyz="0.10881667 0.0001089081 -0.022638996"/>
      <mass value="1.9356754"/>
      <!-- org: 3.5, foot un modeled-->
      <inertia ixx="0.0030534242" ixy="-4.22079e-05" ixz="0.0013679297" iyy="0.019603321" iyz="6.9941e-06" izz="0.019849817"/>
      <!--	<inertia ixx="0.01" ixy="0.01" ixz="0.01" iyy="0.01" iyz="0.01" izz="0.01"/>  -->
    </inertial>
    <visual>
      <origin rpy="0.0 0.0 0.0" xyz="0.0 0.0 0.0"/>
      <geometry>
        <mesh filename="meshes/simplified/knee.stl" scale="0.001 0.001 0.001"/>
      </geometry>
      <material name="dark_grey"/>
    </visual>
    <collision>
      <origin rpy="0.0 0.0 0.0" xyz="0.0 0.0 0.0"/>
      <geometry>
        <mesh filename="meshes/convex_hull/knee.stl" scale="0.001 0.001 0.001"/>
      </geometry>
    </collision>
  </link>
  <link name="ankle1_3">
    <inertial>
      <origin xyz="0.032137318 9.73572e-05 -0.0044222206"/>
      <mass value="1.2380744"/>
      <!-- org: 3.5, foot un modeled-->
      <inertia ixx="0.0015610452" ixy="3.30597e-05" ixz="-0.0001314174" iyy="0.0037423211" iyz="-2.12589e-05" izz="0.0038312442"/>
      <!--	<inertia ixx="0.01" ixy="0.01" ixz="0.01" iyy="0.01" iyz="0.01" izz="0.01"/>  -->
    </inertial>
    <visual>
      <origin rpy="0.0 0.0 0.0" xyz="0.0 0.0 0.0"/>
      <geometry>
        <mesh filename="meshes/simplified/ankle-pitch.stl" scale="0.001 0.001 0.001"/>
      </geometry>
    </visual>
    <collision>
      <origin rpy="0.0 0.0 0.0" xyz="0.0 0.0 0.0"/>
      <geometry>
        <mesh filename="meshes/convex_hull/ankle-pitch.stl" scale="0.001 0.001 0.001"/>
      </geometry>
    </collision>
  </link>
  <link name="ankle2_3">
    <inertial>
      <origin xyz="0.0004435803 0.0004389911 0.19392092"/>
      <mass value="1.1565926"/>
      <!-- org: 3.5, foot un modeled-->
      <inertia ixx="0.0049019475" ixy="4.3032e-06" ixz="3.46491e-05" iyy="0.0038724162" iyz="1.7099e-05" izz="0.0021783198"/>
    </inertial>
    <visual>
      <origin rpy="0.0 0.0 0.0" xyz="0.0 0.0 0.0"/>
      <geometry>
        <mesh filename="meshes/simplified/ankle-yaw.stl" scale="0.001 0.001 0.001"/>
      </geometry>
      <material name="dark_grey"/>
    </visual>
    <collision>
      <origin rpy="0.0 0.0 0.0" xyz="0.0 0.0 0.0"/>
      <geometry>
        <mesh filename="meshes/convex_hull/ankle-yaw.stl" scale="0.001 0.001 0.001"/>
      </geometry>
    </collision>
  </link>
  <link name="wheel_3">
    <inertial>
      <origin xyz="0.0 0.0 0.0024271906"/>
      <mass value="1.7289003"/>
      <!-- org: 3.5, foot un modeled-->
      <inertia ixx="0.0046864297" ixy="0.0" ixz="0.0" iyy="0.0046713489" iyz="0.0" izz="0.0053126029"/>
    </inertial>
    <visual>
      <origin rpy="0.0 0.0 0.0" xyz="0.0 0.0 0.0"/>
      <geometry>
        <mesh filename="meshes/simplified/wheel.stl" scale="0.001 0.001 0.001"/>
      </geometry>
      <material name="black"/>
    </visual>
    <collision>
      <origin rpy="0.0 0.0 0.0" xyz="0.0 0.0 0.0"/>
      <geometry>
        <mesh filename="meshes/convex_hull/wheel.stl" scale="0.001 0.001 0.001"/>
      </geometry>
    </collision>
  </link>
  <joint name="hip_yaw_3" type="revolute">
    <parent link="pelvis"/>
    <child link="hip1_3"/>
    <origin rpy="3.14159265359 0.0 2.68017653036" xyz="-0.25 0.125 -0.0566"/>
    <axis xyz="0 0 1"/>
    <limit effort="304" lower="-2.51" upper="0.943" velocity="8.8"/>
  </joint>
  <joint name="hip_pitch_3" type="revolute">
    <parent link="hip1_3"/>
    <child link="hip2_3"/>
    <origin rpy="1.57079632679 0.0 2.68017653036" xyz="0.0 0.0 0.0625"/>
    <axis xyz="0 0 1"/>
    <limit effort="304" lower="-2.0126" upper="2.0384" velocity="8.8"/>
  </joint>
  <joint name="knee_pitch_3" type="revolute">
    <parent link="hip2_3"/>
    <child link="knee_3"/>
    <origin rpy="3.14159265359 0.0 1.57079632679" xyz="0.0 0.3 -0.0036"/>
    <axis xyz="0 0 1"/>
    <limit effort="304" lower="-2.4056" upper="2.4064" velocity="8.8"/>
  </joint>
  <joint name="ankle_pitch_3" type="revolute">
    <parent link="knee_3"/>
    <child link="ankle1_3"/>
    <origin rpy="3.14159265359 0.0 0.0" xyz="0.2 0.0 -0.10015"/>
    <axis xyz="0 0 1"/>
    <limit effort="147" lower="-2.4696" upper="2.4464" velocity="8.1"/>
  </joint>
  <joint name="ankle_yaw_3" type="revolute">
    <parent link="ankle1_3"/>
    <child link="ankle2_3"/>
    <origin rpy="1.57079632679 0.0 1.57079632679" xyz="0.0 0.0 0.0"/>
    <axis xyz="0 0 1"/>
    <limit effort="35" lower="-2.5606" upper="2.5454" velocity="20.0"/>
  </joint>
  <joint name="j_wheel_3" type="continuous">
    <parent link="ankle2_3"/>
    <child link="wheel_3"/>
    <origin rpy="1.57079632679 0.0 3.14159265359" xyz="0.0 0.00085 0.23735"/>
    <axis xyz="0 0 -1"/>
    <limit effort="35" velocity="20.0"/>
  </joint>
  <transmission name="t_hip_yaw_3">
    <type> transmission_interface/SimpleTransmission</type>
    <joint name="hip_yaw_3">
      <hardwareInterface>hardware_interface/EffortJointInterface</hardwareInterface>
    </joint>
    <actuator name="motor_hip_yaw_3">
      <hardwareInterface>hardware_interface/EffortJointInterface</hardwareInterface>
      <machanicalReduction>1</machanicalReduction>
    </actuator>
    <robotNamespace>/centauro</robotNamespace>
  </transmission>
  <transmission name="t_hip_pitch_3">
    <type> transmission_interface/SimpleTransmission</type>
    <joint name="hip_pitch_3">
      <hardwareInterface>hardware_interface/EffortJointInterface</hardwareInterface>
    </joint>
    <actuator name="motor_hip_pitch_3">
      <hardwareInterface>hardware_interface/EffortJointInterface</hardwareInterface>
      <machanicalReduction>1</machanicalReduction>
    </actuator>
    <robotNamespace>/centauro</robotNamespace>
  </transmission>
  <transmission name="t_knee_pitch_3">
    <type> transmission_interface/SimpleTransmission</type>
    <joint name="knee_pitch_3">
      <hardwareInterface>hardware_interface/EffortJointInterface</hardwareInterface>
    </joint>
    <actuator name="motor_knee_pitch_3">
      <hardwareInterface>hardware_interface/EffortJointInterface</hardwareInterface>
      <machanicalReduction>1</machanicalReduction>
    </actuator>
    <robotNamespace>/centauro</robotNamespace>
  </transmission>
  <transmission name="t_ankle_pitch_3">
    <type> transmission_interface/SimpleTransmission</type>
    <joint name="ankle_pitch_3">
      <hardwareInterface>hardware_interface/EffortJointInterface</hardwareInterface>
    </joint>
    <actuator name="motor_ankle_pitch_3">
      <hardwareInterface>hardware_interface/EffortJointInterface</hardwareInterface>
      <machanicalReduction>1</machanicalReduction>
    </actuator>
    <robotNamespace>/centauro</robotNamespace>
  </transmission>
  <transmission name="t_ankle_yaw_3">
    <type> transmission_interface/SimpleTransmission</type>
    <joint name="ankle_yaw_3">
      <hardwareInterface>hardware_interface/EffortJointInterface</hardwareInterface>
    </joint>
    <actuator name="motor_ankle_yaw_3">
      <hardwareInterface>hardware_interface/EffortJointInterface</hardwareInterface>
      <machanicalReduction>1</machanicalReduction>
    </actuator>
    <robotNamespace>/centauro</robotNamespace>
  </transmission>
  <transmission name="t_j_wheel_3">
    <type> transmission_interface/SimpleTransmission</type>
    <joint name="j_wheel_3">
      <hardwareInterface>hardware_interface/EffortJointInterface</hardwareInterface>
    </joint>
    <actuator name="motor_j_wheel_3">
      <hardwareInterface>hardware_interface/EffortJointInterface</hardwareInterface>
      <machanicalReduction>1</machanicalReduction>
    </actuator>
    <robotNamespace>/centauro</robotNamespace>
  </transmission>
  <!-- /actuators -->
  <link name="hip1_4">
    <inertial>
      <origin xyz="0.010214199 -0.018348359 0.038090987"/>
      <mass value="1.9194403"/>
      <!-- org: 2 -->
      <inertia ixx="0.0047439572" ixy="0.0005747047" ixz="-0.0003784138" iyy="0.0040551878" iyz="0.0007407508" izz="0.0034146219"/>
      <!-- <inertia ixx="0.01" ixy="0.01" ixz="0.01" iyy="0.01" iyz="0.01" izz="0.01"/> -->
    </inertial>
    <visual>
      <origin rpy="0.0 0.0 4.06442490005" xyz="0.0 0.0 0.0"/>
      <geometry>
        <mesh filename="meshes/simplified/hip-yaw.stl" scale="0.001 0.001 0.001"/>
      </geometry>
      <material name="dark_grey"/>
    </visual>
    <collision>
      <origin rpy="0.0 0.0 4.06442490005" xyz="0.0 0.0 0.0"/>
      <geometry>
        <mesh filename="meshes/convex_hull/hip-yaw.stl" scale="0.001 0.001 0.001"/>
      </geometry>
    </collision>
  </link>
  <link name="hip2_4">
    <inertial>
      <origin xyz="2.57966e-05 0.1810266 0.085669756"/>
      <mass value="2.7264471"/>
      <!-- org: 4.5 -->
      <inertia ixx="0.04851869" ixy="-4.11894e-05" ixz="-1.68778e-05" iyy="0.004242055" iyz="0.0032243188" izz="0.04825583"/>
      <!-- <inertia ixx="0.01" ixy="0.01" ixz="0.01" iyy="0.01" iyz="0.01" izz="0.01"/> -->
    </inertial>
    <visual>
      <origin rpy="0.0 0.0 0.0" xyz="0.0 0.0 0.0"/>
      <geometry>
        <mesh filename="meshes/simplified/hip-pitch.stl" scale="0.001 0.001 0.001"/>
      </geometry>
    </visual>
    <collision>
      <origin rpy="0.0 0.0 0.0" xyz="0.0 0.0 0.0"/>
      <geometry>
        <mesh filename="meshes/convex_hull/hip-pitch.stl" scale="0.001 0.001 0.001"/>
      </geometry>
    </collision>
  </link>
  <link name="knee_4">
    <inertial>
      <origin xyz="0.10881667 0.0001089081 -0.022638996"/>
      <mass value="1.9356754"/>
      <!-- org: 3.5, foot un modeled-->
      <inertia ixx="0.0030534242" ixy="-4.22079e-05" ixz="0.0013679297" iyy="0.019603321" iyz="6.9941e-06" izz="0.019849817"/>
      <!--	<inertia ixx="0.01" ixy="0.01" ixz="0.01" iyy="0.01" iyz="0.01" izz="0.01"/>  -->
    </inertial>
    <visual>
      <origin rpy="0.0 0.0 0.0" xyz="0.0 0.0 0.0"/>
      <geometry>
        <mesh filename="meshes/simplified/knee.stl" scale="0.001 0.001 0.001"/>
      </geometry>
      <material name="dark_grey"/>
    </visual>
    <collision>
      <origin rpy="0.0 0.0 0.0" xyz="0.0 0.0 0.0"/>
      <geometry>
        <mesh filename="meshes/convex_hull/knee.stl" scale="0.001 0.001 0.001"/>
      </geometry>
    </collision>
  </link>
  <link name="ankle1_4">
    <inertial>
      <origin xyz="0.032137318 9.73572e-05 -0.0044222206"/>
      <mass value="1.2380744"/>
      <!-- org: 3.5, foot un modeled-->
      <inertia ixx="0.0015610452" ixy="3.30597e-05" ixz="-0.0001314174" iyy="0.0037423211" iyz="-2.12589e-05" izz="0.0038312442"/>
      <!--	<inertia ixx="0.01" ixy="0.01" ixz="0.01" iyy="0.01" iyz="0.01" izz="0.01"/>  -->
    </inertial>
    <visual>
      <origin rpy="0.0 0.0 0.0" xyz="0.0 0.0 0.0"/>
      <geometry>
        <mesh filename="meshes/simplified/ankle-pitch.stl" scale="0.001 0.001 0.001"/>
      </geometry>
    </visual>
    <collision>
      <origin rpy="0.0 0.0 0.0" xyz="0.0 0.0 0.0"/>
      <geometry>
        <mesh filename="meshes/convex_hull/ankle-pitch.stl" scale="0.001 0.001 0.001"/>
      </geometry>
    </collision>
  </link>
  <link name="ankle2_4">
    <inertial>
      <origin xyz="0.0004435803 0.0004389911 0.19392092"/>
      <mass value="1.1565926"/>
      <!-- org: 3.5, foot un modeled-->
      <inertia ixx="0.0049019475" ixy="4.3032e-06" ixz="3.46491e-05" iyy="0.0038724162" iyz="1.7099e-05" izz="0.0021783198"/>
    </inertial>
    <visual>
      <origin rpy="0.0 0.0 0.0" xyz="0.0 0.0 0.0"/>
      <geometry>
        <mesh filename="meshes/simplified/ankle-yaw.stl" scale="0.001 0.001 0.001"/>
      </geometry>
      <material name="dark_grey"/>
    </visual>
    <collision>
      <origin rpy="0.0 0.0 0.0" xyz="0.0 0.0 0.0"/>
      <geometry>
        <mesh filename="meshes/convex_hull/ankle-yaw.stl" scale="0.001 0.001 0.001"/>
      </geometry>
    </collision>
  </link>
  <link name="wheel_4">
    <inertial>
      <origin xyz="0.0 0.0 0.0024271906"/>
      <mass value="1.7289003"/>
      <!-- org: 3.5, foot un modeled-->
      <inertia ixx="0.0046864297" ixy="0.0" ixz="0.0" iyy="0.0046713489" iyz="0.0" izz="0.0053126029"/>
    </inertial>
    <visual>
      <origin rpy="0.0 0.0 0.0" xyz="0.0 0.0 0.0"/>
      <geometry>
        <mesh filename="meshes/simplified/wheel.stl" scale="0.001 0.001 0.001"/>
      </geometry>
      <material name="black"/>
    </visual>
    <collision>
      <origin rpy="0.0 0.0 0.0" xyz="0.0 0.0 0.0"/>
      <geometry>
        <mesh filename="meshes/convex_hull/wheel.stl" scale="0.001 0.001 0.001"/>
      </geometry>
    </collision>
  </link>
  <joint name="hip_yaw_4" type="revolute">
    <parent link="pelvis"/>
    <child link="hip1_4"/>
    <origin rpy="3.14159265359 0.0 3.60300877682" xyz="-0.25 -0.125 -0.0566"/>
    <axis xyz="0 0 1"/>
    <limit effort="304" lower="-0.9412" upper="2.5138" velocity="8.8"/>
  </joint>
  <joint name="hip_pitch_4" type="revolute">
    <parent link="hip1_4"/>
    <child link="hip2_4"/>
    <origin rpy="1.57079632679 0.0 0.46141612323" xyz="0.0 0.0 0.0625"/>
    <axis xyz="0 0 1"/>
    <limit effort="304" lower="-2.0326" upper="2.0524" velocity="8.8"/>
  </joint>
  <joint name="knee_pitch_4" type="revolute">
    <parent link="hip2_4"/>
    <child link="knee_4"/>
    <origin rpy="3.14159265359 0.0 1.57079632679" xyz="0.0 0.3 -0.0036"/>
    <axis xyz="0 0 1"/>
    <limit effort="304" lower="-2.4176" upper="2.3884" velocity="8.8"/>
  </joint>
  <joint name="ankle_pitch_4" type="revolute">
    <parent link="knee_4"/>
    <child link="ankle1_4"/>
    <origin rpy="3.14159265359 0.0 0.0" xyz="0.2 0.0 -0.10015"/>
    <axis xyz="0 0 1"/>
    <limit effort="147" lower="-2.3426" upper="2.3934" velocity="8.1"/>
  </joint>
  <joint name="ankle_yaw_4" type="revolute">
    <parent link="ankle1_4"/>
    <child link="ankle2_4"/>
    <origin rpy="1.57079632679 0.0 1.57079632679" xyz="0.0 0.0 0.0"/>
    <axis xyz="0 0 1"/>
    <limit effort="35" lower="-2.6046" upper="2.5514" velocity="20.0"/>
  </joint>
  <joint name="j_wheel_4" type="continuous">
    <parent link="ankle2_4"/>
    <child link="wheel_4"/>
    <origin rpy="1.57079632679 0.0 3.14159265359" xyz="0.0 0.00085 0.23735"/>
    <axis xyz="0 0 -1"/>
    <limit effort="35" velocity="20.0"/>
  </joint>
  <transmission name="t_hip_yaw_4">
    <type> transmission_interface/SimpleTransmission</type>
    <joint name="hip_yaw_4">
      <hardwareInterface>hardware_interface/EffortJointInterface</hardwareInterface>
    </joint>
    <actuator name="motor_hip_yaw_4">
      <hardwareInterface>hardware_interface/EffortJointInterface</hardwareInterface>
      <machanicalReduction>1</machanicalReduction>
    </actuator>
    <robotNamespace>/centauro</robotNamespace>
  </transmission>
  <transmission name="t_hip_pitch_4">
    <type> transmission_interface/SimpleTransmission</type>
    <joint name="hip_pitch_4">
      <hardwareInterface>hardware_interface/EffortJointInterface</hardwareInterface>
    </joint>
    <actuator name="motor_hip_pitch_4">
      <hardwareInterface>hardware_interface/EffortJointInterface</hardwareInterface>
      <machanicalReduction>1</machanicalReduction>
    </actuator>
    <robotNamespace>/centauro</robotNamespace>
  </transmission>
  <transmission name="t_knee_pitch_4">
    <type> transmission_interface/SimpleTransmission</type>
    <joint name="knee_pitch_4">
      <hardwareInterface>hardware_interface/EffortJointInterface</hardwareInterface>
    </joint>
    <actuator name="motor_knee_pitch_4">
      <hardwareInterface>hardware_interface/EffortJointInterface</hardwareInterface>
      <machanicalReduction>1</machanicalReduction>
    </actuator>
    <robotNamespace>/centauro</robotNamespace>
  </transmission>
  <transmission name="t_ankle_pitch_4">
    <type> transmission_interface/SimpleTransmission</type>
    <joint name="ankle_pitch_4">
      <hardwareInterface>hardware_interface/EffortJointInterface</hardwareInterface>
    </joint>
    <actuator name="motor_ankle_pitch_4">
      <hardwareInterface>hardware_interface/EffortJointInterface</hardwareInterface>
      <machanicalReduction>1</machanicalReduction>
    </actuator>
    <robotNamespace>/centauro</robotNamespace>
  </transmission>
  <transmission name="t_ankle_yaw_4">
    <type> transmission_interface/SimpleTransmission</type>
    <joint name="ankle_yaw_4">
      <hardwareInterface>hardware_interface/EffortJointInterface</hardwareInterface>
    </joint>
    <actuator name="motor_ankle_yaw_4">
      <hardwareInterface>hardware_interface/EffortJointInterface</hardwareInterface>
      <machanicalReduction>1</machanicalReduction>
    </actuator>
    <robotNamespace>/centauro</robotNamespace>
  </transmission>
  <transmission name="t_j_wheel_4">
    <type> transmission_interface/SimpleTransmission</type>
    <joint name="j_wheel_4">
      <hardwareInterface>hardware_interface/EffortJointInterface</hardwareInterface>
    </joint>
    <actuator name="motor_j_wheel_4">
      <hardwareInterface>hardware_interface/EffortJointInterface</hardwareInterface>
      <machanicalReduction>1</machanicalReduction>
    </actuator>
    <robotNamespace>/centauro</robotNamespace>
  </transmission>
  <!-- /actuators -->
  <!-- /legs -->
</robot>
